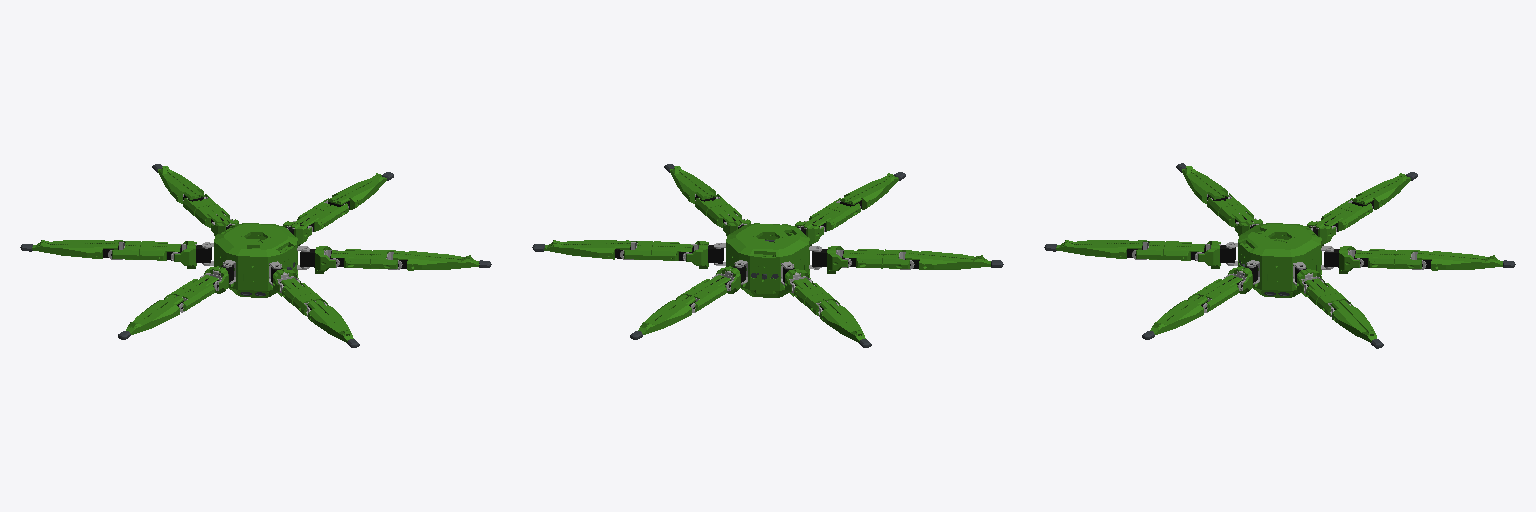
--- Render facts (derived) ---
Views: 3 orthographic renders of the robot side by side, from view 1: azimuth 30°, elevation 25°; view 2: azimuth 150°, elevation 25°; view 3: azimuth 270°, elevation 25°.
Robot: [local-path]\OneDrive\Documents\hexapod\hexapod_py\platform\simu — 19 links, 18 joints (18 revolute); root link base_link; default pose: all joints at 0.
Links seen in each view (by area): view 1: base_link, foot_assembly_2, foot_assembly_5, foot_assembly_4, ties_assembly_5, ties_assembly_2, foot_assembly_3, foot_assembly, foot_assembly_6, ties_assembly, ties_assembly_4, ties_assembly_3 (+3 smaller); view 2: base_link, foot_assembly_4, foot_assembly, foot_assembly_6, ties_assembly, ties_assembly_4, foot_assembly_5, foot_assembly_3, foot_assembly_2, ties_assembly_3, ties_assembly_6, ties_assembly_5 (+3 smaller); view 3: base_link, foot_assembly_6, foot_assembly_3, foot_assembly_2, ties_assembly_3, ties_assembly_6, foot_assembly, foot_assembly_5, foot_assembly_4, ties_assembly_2, ties_assembly_5, ties_assembly (+3 smaller).
Boxes of the visible links, left/top/right/bottom form: base_link: left=204, top=223, right=307, bottom=297; foot_assembly_2: left=393, top=251, right=491, bottom=270; foot_assembly_5: left=20, top=240, right=118, bottom=258; foot_assembly_4: left=118, top=295, right=183, bottom=339; ties_assembly_5: left=111, top=240, right=181, bottom=260; ties_assembly_2: left=330, top=249, right=398, bottom=269; foot_assembly_3: left=307, top=300, right=359, bottom=347; foot_assembly: left=327, top=172, right=393, bottom=209; foot_assembly_6: left=152, top=164, right=205, bottom=203; ties_assembly: left=294, top=198, right=348, bottom=231; ties_assembly_4: left=164, top=275, right=218, bottom=312; ties_assembly_3: left=280, top=278, right=328, bottom=316; base_link: left=716, top=223, right=819, bottom=297; foot_assembly_4: left=905, top=250, right=1003, bottom=269; foot_assembly: left=532, top=240, right=630, bottom=259; foot_assembly_6: left=630, top=295, right=695, bottom=339; ties_assembly: left=623, top=240, right=693, bottom=260; ties_assembly_4: left=842, top=249, right=911, bottom=269; foot_assembly_5: left=819, top=300, right=871, bottom=347; foot_assembly_3: left=839, top=172, right=905, bottom=209; foot_assembly_2: left=664, top=164, right=717, bottom=203; ties_assembly_3: left=806, top=198, right=860, bottom=231; ties_assembly_6: left=675, top=275, right=730, bottom=312; ties_assembly_5: left=792, top=278, right=840, bottom=316; base_link: left=1228, top=223, right=1331, bottom=297; foot_assembly_6: left=1417, top=251, right=1515, bottom=270; foot_assembly_3: left=1044, top=240, right=1142, bottom=258; foot_assembly_2: left=1142, top=295, right=1207, bottom=339; ties_assembly_3: left=1135, top=240, right=1205, bottom=260; ties_assembly_6: left=1354, top=249, right=1422, bottom=269; foot_assembly: left=1331, top=300, right=1383, bottom=348; foot_assembly_5: left=1351, top=172, right=1417, bottom=209; foot_assembly_4: left=1176, top=163, right=1229, bottom=203; ties_assembly_2: left=1187, top=275, right=1242, bottom=312; ties_assembly_5: left=1318, top=198, right=1372, bottom=231; ties_assembly: left=1304, top=278, right=1352, bottom=316.
Bounding box of the posed robot: 1.31 × 1.44 × 0.17 m (x, y, z).
Meshes: 16 distinct files referenced, 134 mesh visuals loaded (16 binary STL).

robot.urdf — [local-path]\OneDrive\Documents\hexapod\hexapod_py\platform\simu:
<?xml version="1.0" ?>
<!-- Generated using onshape-to-robot -->
<!-- Onshape https://cad.onshape.com/documents/026f9a33ba6a25a983a9d639/w/b83e0182bd0a887a03df3198/e/e49783848224d44e064e4a49 -->
<robot name="[local-path]\OneDrive\Documents\hexapod\hexapod_py\platform\simulation">
  <!-- Link base_link -->
  <link name="base_link">
    <inertial>
      <origin xyz="0.00470178 -0.0163199 -0.0259802" rpy="0 0 0"/>
      <mass value="2.35252"/>
      <inertia ixx="0.0190385" ixy="0.000445297" ixz="-2.34169e-05" iyy="0.0182501" iyz="-2.1661e-05" izz="0.0246171"/>
    </inertial>
    <!-- Part mobile_bracket -->
    <visual>
      <origin xyz="0.111152 0.033155 -0.0136886" rpy="1.13446 1.5708 0"/>
      <geometry>
        <mesh filename="package://meshes\mobile_bracket.stl"/>
      </geometry>
      <material name="mobile_bracket_material">
        <color rgba="0.647059 0.647059 0.647059 1"/>
      </material>
    </visual>
    <collision>
      <origin xyz="0.111152 0.033155 -0.0136886" rpy="1.13446 1.5708 0"/>
      <geometry>
        <mesh filename="package://meshes\mobile_bracket.stl"/>
      </geometry>
    </collision>
    <!-- Part top_cover -->
    <visual>
      <origin xyz="0.0050986 -0.0162986 0.0213114" rpy="-2.42931e-14 2.46385e-14 2.00713"/>
      <geometry>
        <mesh filename="package://meshes\top_cover.stl"/>
      </geometry>
      <material name="top_cover_material">
        <color rgba="0.282353 0.54902 0.160784 1"/>
      </material>
    </visual>
    <collision>
      <origin xyz="0.0050986 -0.0162986 0.0213114" rpy="-2.42931e-14 2.46385e-14 2.00713"/>
      <geometry>
        <mesh filename="package://meshes\top_cover.stl"/>
      </geometry>
    </collision>
    <!-- Part mobile_bracket_2 -->
    <visual>
      <origin xyz="0.100953 -0.0834168 -0.0136886" rpy="2.18166 1.5708 0"/>
      <geometry>
        <mesh filename="package://meshes\mobile_bracket.stl"/>
      </geometry>
      <material name="mobile_bracket_2_material">
        <color rgba="0.647059 0.647059 0.647059 1"/>
      </material>
    </visual>
    <collision>
      <origin xyz="0.100953 -0.0834168 -0.0136886" rpy="2.18166 1.5708 0"/>
      <geometry>
        <mesh filename="package://meshes\mobile_bracket.stl"/>
      </geometry>
    </collision>
    <!-- Part camera -->
    <visual>
      <origin xyz="-0.0382198 0.076598 -0.0256886" rpy="3.14159 -6.80112e-15 0.436332"/>
      <geometry>
        <mesh filename="package://meshes\camera.stl"/>
      </geometry>
      <material name="camera_material">
        <color rgba="0.262745 0.282353 0.301961 1"/>
      </material>
    </visual>
    <collision>
      <origin xyz="-0.0382198 0.076598 -0.0256886" rpy="3.14159 -6.80112e-15 0.436332"/>
      <geometry>
        <mesh filename="package://meshes\camera.stl"/>
      </geometry>
    </collision>
    <!-- Part camera_2 -->
    <visual>
      <origin xyz="0.048417 -0.109195 -0.0256886" rpy="-3.14159 6.80112e-15 -2.70526"/>
      <geometry>
        <mesh filename="package://meshes\camera.stl"/>
      </geometry>
      <material name="camera_2_material">
        <color rgba="0.262745 0.282353 0.301961 1"/>
      </material>
    </visual>
    <collision>
      <origin xyz="0.048417 -0.109195 -0.0256886" rpy="-3.14159 6.80112e-15 -2.70526"/>
      <geometry>
        <mesh filename="package://meshes\camera.stl"/>
      </geometry>
    </collision>
    <!-- Part bottom_cover -->
    <visual>
      <origin xyz="0.0050986 -0.0162986 -0.0486886" rpy="-3.14159 -2.1605e-14 -1.13446"/>
      <geometry>
        <mesh filename="package://meshes\bottom_cover.stl"/>
      </geometry>
      <material name="bottom_cover_material">
        <color rgba="0.282353 0.54902 0.160784 1"/>
      </material>
    </visual>
    <collision>
      <origin xyz="0.0050986 -0.0162986 -0.0486886" rpy="-3.14159 -2.1605e-14 -1.13446"/>
      <geometry>
        <mesh filename="package://meshes\bottom_cover.stl"/>
      </geometry>
    </collision>
    <!-- Part left_speaker -->
    <visual>
      <origin xyz="-0.0234341 -0.0570474 0.00105654" rpy="1.5708 0.523599 -0.610865"/>
      <geometry>
        <mesh filename="package://meshes\left_speaker.stl"/>
      </geometry>
      <material name="left_speaker_material">
        <color rgba="0.262745 0.282353 0.301961 1"/>
      </material>
    </visual>
    <collision>
      <origin xyz="-0.0234341 -0.0570474 0.00105654" rpy="1.5708 0.523599 -0.610865"/>
      <geometry>
        <mesh filename="package://meshes\left_speaker.stl"/>
      </geometry>
    </collision>
    <!-- Part body_power -->
    <visual>
      <origin xyz="0.0050986 -0.0162986 -0.0136886" rpy="2.46385e-14 2.42931e-14 -2.70526"/>
      <geometry>
        <mesh filename="package://meshes\body_power.stl"/>
      </geometry>
      <material name="body_power_material">
        <color rgba="0.282353 0.54902 0.160784 1"/>
      </material>
    </visual>
    <collision>
      <origin xyz="0.0050986 -0.0162986 -0.0136886" rpy="2.46385e-14 2.42931e-14 -2.70526"/>
      <geometry>
        <mesh filename="package://meshes\body_power.stl"/>
      </geometry>
    </collision>
    <!-- Part mobile_bracket_3 -->
    <visual>
      <origin xyz="-0.00510011 -0.13287 -0.0136886" rpy="3.05433 -1.5708 0"/>
      <geometry>
        <mesh filename="package://meshes\mobile_bracket.stl"/>
      </geometry>
      <material name="mobile_bracket_3_material">
        <color rgba="0.647059 0.647059 0.647059 1"/>
      </material>
    </visual>
    <collision>
      <origin xyz="-0.00510011 -0.13287 -0.0136886" rpy="3.05433 -1.5708 0"/>
      <geometry>
        <mesh filename="package://meshes\mobile_bracket.stl"/>
      </geometry>
    </collision>
    <!-- Part mobile_bracket_4 -->
    <visual>
      <origin xyz="0.0152973 0.100273 -0.0136886" rpy="0.0872665 1.5708 0"/>
      <geometry>
        <mesh filename="package://meshes\mobile_bracket.stl"/>
      </geometry>
      <material name="mobile_bracket_4_material">
        <color rgba="0.647059 0.647059 0.647059 1"/>
      </material>
    </visual>
    <collision>
      <origin xyz="0.0152973 0.100273 -0.0136886" rpy="0.0872665 1.5708 0"/>
      <geometry>
        <mesh filename="package://meshes\mobile_bracket.stl"/>
      </geometry>
    </collision>
    <!-- Part mobile_bracket_5 -->
    <visual>
      <origin xyz="-0.100955 -0.0657521 -0.0136886" rpy="2.00713 -1.5708 0"/>
      <geometry>
        <mesh filename="package://meshes\mobile_bracket.stl"/>
      </geometry>
      <material name="mobile_bracket_5_material">
        <color rgba="0.647059 0.647059 0.647059 1"/>
      </material>
    </visual>
    <collision>
      <origin xyz="-0.100955 -0.0657521 -0.0136886" rpy="2.00713 -1.5708 0"/>
      <geometry>
        <mesh filename="package://meshes\mobile_bracket.stl"/>
      </geometry>
    </collision>
    <!-- Part mobile_bracket_6 -->
    <visual>
      <origin xyz="-0.0907562 0.0508196 -0.0136886" rpy="0.959931 -1.5708 0"/>
      <geometry>
        <mesh filename="package://meshes\mobile_bracket.stl"/>
      </geometry>
      <material name="mobile_bracket_6_material">
        <color rgba="0.647059 0.647059 0.647059 1"/>
      </material>
    </visual>
    <collision>
      <origin xyz="-0.0907562 0.0508196 -0.0136886" rpy="0.959931 -1.5708 0"/>
      <geometry>
        <mesh filename="package://meshes\mobile_bracket.stl"/>
      </geometry>
    </collision>
    <!-- Part body_brain -->
    <visual>
      <origin xyz="0.0050986 -0.0162986 -0.0136886" rpy="2.1605e-14 6.80112e-15 -2.70526"/>
      <geometry>
        <mesh filename="package://meshes\body_brain.stl"/>
      </geometry>
      <material name="body_brain_material">
        <color rgba="0.282353 0.54902 0.160784 1"/>
      </material>
    </visual>
    <collision>
      <origin xyz="0.0050986 -0.0162986 -0.0136886" rpy="2.1605e-14 6.80112e-15 -2.70526"/>
      <geometry>
        <mesh filename="package://meshes\body_brain.stl"/>
      </geometry>
    </collision>
    <!-- Part left_speaker_2 -->
    <visual>
      <origin xyz="0.0546545 -0.0206342 0.00105654" rpy="1.5708 0.523599 1.48353"/>
      <geometry>
        <mesh filename="package://meshes\left_speaker.stl"/>
      </geometry>
      <material name="left_speaker_2_material">
        <color rgba="0.262745 0.282353 0.301961 1"/>
      </material>
    </visual>
    <collision>
      <origin xyz="0.0546545 -0.0206342 0.00105654" rpy="1.5708 0.523599 1.48353"/>
      <geometry>
        <mesh filename="package://meshes\left_speaker.stl"/>
      </geometry>
    </collision>
  </link>
  <!-- Link hip_assembly -->
  <link name="hip_assembly">
    <inertial>
      <origin xyz="0.0271153 0.000490209 -0.0317796" rpy="0 0 0"/>
      <mass value="0.38056"/>
      <inertia ixx="0.000187069" ixy="-3.08523e-06" ixz="7.85466e-06" iyy="0.000328441" iyz="1.17914e-06" izz="0.000302664"/>
    </inertial>
    <!-- Part hip -->
    <visual>
      <origin xyz="0.0575 -4.64906e-16 -0.0045" rpy="1.16453e-15 -4.14381e-15 -3.14159"/>
      <geometry>
        <mesh filename="package://meshes\hip.stl"/>
      </geometry>
      <material name="hip_material">
        <color rgba="0.282353 0.54902 0.160784 1"/>
      </material>
    </visual>
    <collision>
      <origin xyz="0.0575 -4.64906e-16 -0.0045" rpy="1.16453e-15 -4.14381e-15 -3.14159"/>
      <geometry>
        <mesh filename="package://meshes\hip.stl"/>
      </geometry>
    </collision>
    <!-- Part mobile_bracket_7 -->
    <visual>
      <origin xyz="0.0575 3.81639e-17 -0.0305" rpy="-3.75284e-15 -9.18037e-16 -1.5708"/>
      <geometry>
        <mesh filename="package://meshes\mobile_bracket.stl"/>
      </geometry>
      <material name="mobile_bracket_7_material">
        <color rgba="0.647059 0.647059 0.647059 1"/>
      </material>
    </visual>
    <collision>
      <origin xyz="0.0575 3.81639e-17 -0.0305" rpy="-3.75284e-15 -9.18037e-16 -1.5708"/>
      <geometry>
        <mesh filename="package://meshes\mobile_bracket.stl"/>
      </geometry>
    </collision>
    <!-- Part servo_wheel -->
    <visual>
      <origin xyz="1.38778e-16 -3.46945e-17 -0.0025" rpy="-3.14159 -4.26305e-15 -3.14159"/>
      <geometry>
        <mesh filename="package://meshes\servo_wheel.stl"/>
      </geometry>
      <material name="servo_wheel_material">
        <color rgba="0.647059 0.647059 0.647059 1"/>
      </material>
    </visual>
    <collision>
      <origin xyz="1.38778e-16 -3.46945e-17 -0.0025" rpy="-3.14159 -4.26305e-15 -3.14159"/>
      <geometry>
        <mesh filename="package://meshes\servo_wheel.stl"/>
      </geometry>
    </collision>
    <!-- Part servo -->
    <visual>
      <origin xyz="0.0175 0.00140442 -0.0305" rpy="-3.14159 -4.05481e-15 -3.14159"/>
      <geometry>
        <mesh filename="package://meshes\servo.stl"/>
      </geometry>
      <material name="servo_material">
        <color rgba="0.109804 0.109804 0.105882 1"/>
      </material>
    </visual>
    <collision>
      <origin xyz="0.0175 0.00140442 -0.0305" rpy="-3.14159 -4.05481e-15 -3.14159"/>
      <geometry>
        <mesh filename="package://meshes\servo.stl"/>
      </geometry>
    </collision>
    <!-- Part fixed_bracket -->
    <visual>
      <origin xyz="0.0575 1.45717e-16 -0.0305" rpy="-1.5708 1.5708 0"/>
      <geometry>
        <mesh filename="package://meshes\fixed_bracket.stl"/>
      </geometry>
      <material name="fixed_bracket_material">
        <color rgba="0.647059 0.647059 0.647059 1"/>
      </material>
    </visual>
    <collision>
      <origin xyz="0.0575 1.45717e-16 -0.0305" rpy="-1.5708 1.5708 0"/>
      <geometry>
        <mesh filename="package://meshes\fixed_bracket.stl"/>
      </geometry>
    </collision>
    <!-- Part servo_wheel_2 -->
    <visual>
      <origin xyz="-1.38778e-16 -1.38778e-17 -0.0585" rpy="-3.14159 -1.97331e-15 3.14159"/>
      <geometry>
        <mesh filename="package://meshes\servo_wheel.stl"/>
      </geometry>
      <material name="servo_wheel_2_material">
        <color rgba="0.647059 0.647059 0.647059 1"/>
      </material>
    </visual>
    <collision>
      <origin xyz="-1.38778e-16 -1.38778e-17 -0.0585" rpy="-3.14159 -1.97331e-15 3.14159"/>
      <geometry>
        <mesh filename="package://meshes\servo_wheel.stl"/>
      </geometry>
    </collision>
  </link>
  <!-- Link ties_assembly -->
  <link name="ties_assembly">
    <inertial>
      <origin xyz="0.0639313 0.001561 -0.0314406" rpy="0 0 0"/>
      <mass value="0.581468"/>
      <inertia ixx="0.000317042" ixy="-2.4027e-05" ixz="2.78889e-05" iyy="0.00207548" iyz="-4.55023e-07" izz="0.00186094"/>
    </inertial>
    <!-- Part mobile_bracket_8 -->
    <visual>
      <origin xyz="0.1568 0.000117091 -0.0322436" rpy="1.5708 1.5708 0"/>
      <geometry>
        <mesh filename="package://meshes\mobile_bracket.stl"/>
      </geometry>
      <material name="mobile_bracket_8_material">
        <color rgba="0.647059 0.647059 0.647059 1"/>
      </material>
    </visual>
    <collision>
      <origin xyz="0.1568 0.000117091 -0.0322436" rpy="1.5708 1.5708 0"/>
      <geometry>
        <mesh filename="package://meshes\mobile_bracket.stl"/>
      </geometry>
    </collision>
    <!-- Part low_tie -->
    <visual>
      <origin xyz="0.0268 0.000117091 -0.0322436" rpy="1.50389e-15 1.5708 0"/>
      <geometry>
        <mesh filename="package://meshes\low_tie.stl"/>
      </geometry>
      <material name="low_tie_material">
        <color rgba="0.282353 0.54902 0.160784 1"/>
      </material>
    </visual>
    <collision>
      <origin xyz="0.0268 0.000117091 -0.0322436" rpy="1.50389e-15 1.5708 0"/>
      <geometry>
        <mesh filename="package://meshes\low_tie.stl"/>
      </geometry>
    </collision>
    <!-- Part top_tie -->
    <visual>
      <origin xyz="0.0275 -1.38778e-17 -0.0305" rpy="1.50389e-15 1.5708 0"/>
      <geometry>
        <mesh filename="package://meshes\top_tie.stl"/>
      </geometry>
      <material name="top_tie_material">
        <color rgba="0.282353 0.54902 0.160784 1"/>
      </material>
    </visual>
    <collision>
      <origin xyz="0.0275 -1.38778e-17 -0.0305" rpy="1.50389e-15 1.5708 0"/>
      <geometry>
        <mesh filename="package://meshes\top_tie.stl"/>
      </geometry>
    </collision>
    <!-- Part servo_wheel_3 -->
    <visual>
      <origin xyz="1.11022e-16 3.46945e-17 -0.0025" rpy="-3.14159 -1.50856e-16 3.14159"/>
      <geometry>
        <mesh filename="package://meshes\servo_wheel.stl"/>
      </geometry>
      <material name="servo_wheel_3_material">
        <color rgba="0.647059 0.647059 0.647059 1"/>
      </material>
    </visual>
    <collision>
      <origin xyz="1.11022e-16 3.46945e-17 -0.0025" rpy="-3.14159 -1.50856e-16 3.14159"/>
      <geometry>
        <mesh filename="package://meshes\servo_wheel.stl"/>
      </geometry>
    </collision>
    <!-- Part servo_2 -->
    <visual>
      <origin xyz="0.0175 0.00140442 -0.0305" rpy="3.14159 1.73711e-14 3.14159"/>
      <geometry>
        <mesh filename="package://meshes\servo.stl"/>
      </geometry>
      <material name="servo_2_material">
        <color rgba="0.109804 0.109804 0.105882 1"/>
      </material>
    </visual>
    <collision>
      <origin xyz="0.0175 0.00140442 -0.0305" rpy="3.14159 1.73711e-14 3.14159"/>
      <geometry>
        <mesh filename="package://meshes\servo.stl"/>
      </geometry>
    </collision>
    <!-- Part fixed_bracket_2 -->
    <visual>
      <origin xyz="0.0575 -5.72459e-17 -0.0305" rpy="-1.5708 1.5708 0"/>
      <geometry>
        <mesh filename="package://meshes\fixed_bracket.stl"/>
      </geometry>
      <material name="fixed_bracket_2_material">
        <color rgba="0.647059 0.647059 0.647059 1"/>
      </material>
    </visual>
    <collision>
      <origin xyz="0.0575 -5.72459e-17 -0.0305" rpy="-1.5708 1.5708 0"/>
      <geometry>
        <mesh filename="package://meshes\fixed_bracket.stl"/>
      </geometry>
    </collision>
    <!-- Part servo_wheel_4 -->
    <visual>
      <origin xyz="1.11022e-16 3.46945e-17 -0.0585" rpy="3.14159 -3.68117e-15 3.14159"/>
      <geometry>
        <mesh filename="package://meshes\servo_wheel.stl"/>
      </geometry>
      <material name="servo_wheel_4_material">
        <color rgba="0.647059 0.647059 0.647059 1"/>
      </material>
    </visual>
    <collision>
      <origin xyz="1.11022e-16 3.46945e-17 -0.0585" rpy="3.14159 -3.68117e-15 3.14159"/>
      <geometry>
        <mesh filename="package://meshes\servo_wheel.stl"/>
      </geometry>
    </collision>
  </link>
  <!-- Link foot_assembly -->
  <link name="foot_assembly">
    <inertial>
      <origin xyz="-0.0719605 -0.00210262 -0.0306706" rpy="0 0 0"/>
      <mass value="0.628062"/>
      <inertia ixx="0.000268406" ixy="-1.55227e-05" ixz="4.14924e-06" iyy="0.0031862" iyz="-2.26544e-07" izz="0.00302315"/>
    </inertial>
    <!-- Part foot -->
    <visual>
      <origin xyz="-0.04425 2.08167e-17 -0.0305" rpy="-2.22045e-16 1.5708 0"/>
      <geometry>
        <mesh filename="package://meshes\foot.stl"/>
      </geometry>
      <material name="foot_material">
        <color rgba="0.282353 0.54902 0.160784 1"/>
      </material>
    </visual>
    <collision>
      <origin xyz="-0.04425 2.08167e-17 -0.0305" rpy="-2.22045e-16 1.5708 0"/>
      <geometry>
        <mesh filename="package://meshes\foot.stl"/>
      </geometry>
    </collision>
    <!-- Part ir_sensor_cap -->
    <visual>
      <origin xyz="-0.0442455 6.98571e-05 -0.0305" rpy="3.33067e-16 1.5708 0"/>
      <geometry>
        <mesh filename="package://meshes\ir_sensor_cap.stl"/>
      </geometry>
      <material name="ir_sensor_cap_material">
        <color rgba="0.282353 0.54902 0.160784 1"/>
      </material>
    </visual>
    <collision>
      <origin xyz="-0.0442455 6.98571e-05 -0.0305" rpy="3.33067e-16 1.5708 0"/>
      <geometry>
        <mesh filename="package://meshes\ir_sensor_cap.stl"/>
      </geometry>
    </collision>
    <!-- Part rubber_foot -->
    <visual>
      <origin xyz="-0.04375 3.88231e-15 -0.03" rpy="-1.83225e-14 1.5708 0"/>
      <geometry>
        <mesh filename="package://meshes\rubber_foot.stl"/>
      </geometry>
      <material name="rubber_foot_material">
        <color rgba="0.262745 0.282353 0.301961 1"/>
      </material>
    </visual>
    <collision>
      <origin xyz="-0.04375 3.88231e-15 -0.03" rpy="-1.83225e-14 1.5708 0"/>
      <geometry>
        <mesh filename="package://meshes\rubber_foot.stl"/>
      </geometry>
    </collision>
    <!-- Part servo_wheel_5 -->
    <visual>
      <origin xyz="5.55112e-17 1.73472e-18 -0.0025" rpy="-3.14159 -6.35086e-17 5.73157e-30"/>
      <geometry>
        <mesh filename="package://meshes\servo_wheel.stl"/>
      </geometry>
      <material name="servo_wheel_5_material">
        <color rgba="0.647059 0.647059 0.647059 1"/>
      </material>
    </visual>
    <collision>
      <origin xyz="5.55112e-17 1.73472e-18 -0.0025" rpy="-3.14159 -6.35086e-17 5.73157e-30"/>
      <geometry>
        <mesh filename="package://meshes\servo_wheel.stl"/>
      </geometry>
    </collision>
    <!-- Part servo_3 -->
    <visual>
      <origin xyz="-0.0175 -0.00140442 -0.0305" rpy="3.14159 3.94279e-16 -2.22045e-16"/>
      <geometry>
        <mesh filename="package://meshes\servo.stl"/>
      </geometry>
      <material name="servo_3_material">
        <color rgba="0.109804 0.109804 0.105882 1"/>
      </material>
    </visual>
    <collision>
      <origin xyz="-0.0175 -0.00140442 -0.0305" rpy="3.14159 3.94279e-16 -2.22045e-16"/>
      <geometry>
        <mesh filename="package://meshes\servo.stl"/>
      </geometry>
    </collision>
    <!-- Part fixed_bracket_3 -->
    <visual>
      <origin xyz="-0.0575 1.9082e-17 -0.0305" rpy="1.5708 1.5708 0"/>
      <geometry>
        <mesh filename="package://meshes\fixed_bracket.stl"/>
      </geometry>
      <material name="fixed_bracket_3_material">
        <color rgba="0.647059 0.647059 0.647059 1"/>
      </material>
    </visual>
    <collision>
      <origin xyz="-0.0575 1.9082e-17 -0.0305" rpy="1.5708 1.5708 0"/>
      <geometry>
        <mesh filename="package://meshes\fixed_bracket.stl"/>
      </geometry>
    </collision>
    <!-- Part servo_wheel_6 -->
    <visual>
      <origin xyz="5.55112e-17 8.1532e-17 -0.0585" rpy="3.14159 -9.79955e-18 1.11022e-16"/>
      <geometry>
        <mesh filename="package://meshes\servo_wheel.stl"/>
      </geometry>
      <material name="servo_wheel_6_material">
        <color rgba="0.647059 0.647059 0.647059 1"/>
      </material>
    </visual>
    <collision>
      <origin xyz="5.55112e-17 8.1532e-17 -0.0585" rpy="3.14159 -9.79955e-18 1.11022e-16"/>
      <geometry>
        <mesh filename="package://meshes\servo_wheel.stl"/>
      </geometry>
    </collision>
  </link>
  <!-- Joint from ties_assembly to foot_assembly -->
  <joint name="foot_1" type="revolute">
    <origin xyz="0.1918 0.000117091 -0.00186036" rpy="-1.83367e-15 -1.8597e-15 3.14159"/>
    <parent link="ties_assembly"/>
    <child link="foot_assembly"/>
    <axis xyz="0 0 1"/>
    <limit effort="10" velocity="10" lower="-2.0944" upper="2.0944"/>
  </joint>
  <!-- Joint from hip_assembly to ties_assembly -->
  <joint name="ties_1" type="revolute">
    <origin xyz="0.0925 -0.0311167 -0.0305" rpy="1.5708 3.75284e-15 1.25724e-15"/>
    <parent link="hip_assembly"/>
    <child link="ties_assembly"/>
    <axis xyz="0 0 1"/>
    <limit effort="10" velocity="10" lower="-1.74533" upper="1.74533"/>
  </joint>
  <!-- Joint from base_link to hip_assembly -->
  <joint name="hip_1" type="revolute">
    <origin xyz="0.142873 0.0479466 0.0166947" rpy="-2.41992e-14 -2.85159e-14 0.436332"/>
    <parent link="base_link"/>
    <child link="hip_assembly"/>
    <axis xyz="0 0 1"/>
    <limit effort="10" velocity="10" lower="-1.5708" upper="1.5708"/>
  </joint>
  <!-- Link hip_assembly_2 -->
  <link name="hip_assembly_2">
    <inertial>
      <origin xyz="-0.0271153 -0.000490209 -0.0317796" rpy="0 0 0"/>
      <mass value="0.38056"/>
      <inertia ixx="0.000187069" ixy="-3.08523e-06" ixz="-7.85466e-06" iyy="0.000328441" iyz="-1.17914e-06" izz="0.000302664"/>
    </inertial>
    <!-- Part hip_2 -->
    <visual>
      <origin xyz="-0.0575 3.64292e-17 -0.0045" rpy="6.66109e-15 2.55513e-15 -1.09316e-16"/>
      <geometry>
        <mesh filename="package://meshes\hip.stl"/>
      </geometry>
      <material name="hip_2_material">
        <color rgba="0.282353 0.54902 0.160784 1"/>
      </material>
    </visual>
    <collision>
      <origin xyz="-0.0575 3.64292e-17 -0.0045" rpy="6.66109e-15 2.55513e-15 -1.09316e-16"/>
      <geometry>
        <mesh filename="package://meshes\hip.stl"/>
      </geometry>
    </collision>
    <!-- Part mobile_bracket_9 -->
    <visual>
      <origin xyz="-0.0575 2.25514e-17 -0.0305" rpy="2.48572e-15 -7.17397e-15 1.5708"/>
      <geometry>
        <mesh filename="package://meshes\mobile_bracket.stl"/>
      </geometry>
      <material name="mobile_bracket_9_material">
        <color rgba="0.647059 0.647059 0.647059 1"/>
      </material>
    </visual>
    <collision>
      <origin xyz="-0.0575 2.25514e-17 -0.0305" rpy="2.48572e-15 -7.17397e-15 1.5708"/>
      <geometry>
        <mesh filename="package://meshes\mobile_bracket.stl"/>
      </geometry>
    </collision>
    <!-- Part servo_wheel_7 -->
    <visual>
      <origin xyz="0 -3.46945e-18 -0.0025" rpy="3.14159 -4.9326e-31 3.23512e-17"/>
      <geometry>
        <mesh filename="package://meshes\servo_wheel.stl"/>
      </geometry>
      <material name="servo_wheel_7_material">
        <color rgba="0.647059 0.647059 0.647059 1"/>
      </material>
    </visual>
    <collision>
      <origin xyz="0 -3.46945e-18 -0.0025" rpy="3.14159 -4.9326e-31 3.23512e-17"/>
      <geometry>
        <mesh filename="package://meshes\servo_wheel.stl"/>
      </geometry>
    </collision>
    <!-- Part servo_4 -->
    <visual>
      <origin xyz="-0.0175 -0.00140442 -0.0305" rpy="-3.14159 2.31536e-15 -2.90032e-17"/>
      <geometry>
        <mesh filename="package://meshes\servo.stl"/>
      </geometry>
      <material name="servo_4_material">
        <color rgba="0.109804 0.109804 0.105882 1"/>
      </material>
    </visual>
    <collision>
      <origin xyz="-0.0175 -0.00140442 -0.0305" rpy="-3.14159 2.31536e-15 -2.90032e-17"/>
      <geometry>
        <mesh filename="package://meshes\servo.stl"/>
      </geometry>
    </collision>
    <!-- Part fixed_bracket_4 -->
    <visual>
      <origin xyz="-0.0575 3.1225e-17 -0.0305" rpy="1.5708 1.5708 0"/>
      <geometry>
        <mesh filename="package://meshes\fixed_bracket.stl"/>
      </geometry>
      <material name="fixed_bracket_4_material">
        <color rgba="0.647059 0.647059 0.647059 1"/>
      </material>
    </visual>
    <collision>
      <origin xyz="-0.0575 3.1225e-17 -0.0305" rpy="1.5708 1.5708 0"/>
      <geometry>
        <mesh filename="package://meshes\fixed_bracket.stl"/>
      </geometry>
    </collision>
    <!-- Part servo_wheel_8 -->
    <visual>
      <origin xyz="0 1.56125e-17 -0.0585" rpy="-3.14159 2.31536e-15 -8.92377e-17"/>
      <geometry>
        <mesh filename="package://meshes\servo_wheel.stl"/>
      </geometry>
      <material name="servo_wheel_8_material">
        <color rgba="0.647059 0.647059 0.647059 1"/>
      </material>
    </visual>
    <collision>
      <origin xyz="0 1.56125e-17 -0.0585" rpy="-3.14159 2.31536e-15 -8.92377e-17"/>
      <geometry>
        <mesh filename="package://meshes\servo_wheel.stl"/>
      </geometry>
    </collision>
  </link>
  <!-- Link ties_assembly_2 -->
  <link name="ties_assembly_2">
    <inertial>
      <origin xyz="0.0639313 0.001561 -0.0314406" rpy="0 0 0"/>
      <mass value="0.581468"/>
      <inertia ixx="0.000317042" ixy="-2.4027e-05" ixz="2.78889e-05" iyy="0.00207548" iyz="-4.55023e-07" izz="0.00186094"/>
    </inertial>
    <!-- Part mobile_bracket_10 -->
    <visual>
      <origin xyz="0.1568 0.000117091 -0.0322436" rpy="1.5708 1.5708 0"/>
      <geometry>
        <mesh filename="package://meshes\mobile_bracket.stl"/>
      </geometry>
      <material name="mobile_bracket_10_material">
        <color rgba="0.647059 0.647059 0.647059 1"/>
      </material>
    </visual>
    <collision>
      <origin xyz="0.1568 0.000117091 -0.0322436" rpy="1.5708 1.5708 0"/>
      <geometry>
        <mesh filename="package://meshes\mobile_bracket.stl"/>
      </geometry>
    </collision>
    <!-- Part low_tie_2 -->
    <visual>
      <origin xyz="0.0268 0.000117091 -0.0322436" rpy="5.55857e-15 1.5708 0"/>
      <geometry>
        <mesh filename="package://meshes\low_tie.stl"/>
      </geometry>
      <material name="low_tie_2_material">
        <color rgba="0.282353 0.54902 0.160784 1"/>
      </material>
    </visual>
    <collision>
      <origin xyz="0.0268 0.000117091 -0.0322436" rpy="5.55857e-15 1.5708 0"/>
      <geometry>
        <mesh filename="package://meshes\low_tie.stl"/>
      </geometry>
    </collision>
    <!-- Part top_tie_2 -->
    <visual>
      <origin xyz="0.0275 -1.68268e-16 -0.0305" rpy="5.55857e-15 1.5708 0"/>
      <geometry>
        <mesh filename="package://meshes\top_tie.stl"/>
      </geometry>
      <material name="top_tie_2_material">
        <color rgba="0.282353 0.54902 0.160784 1"/>
      </material>
    </visual>
    <collision>
      <origin xyz="0.0275 -1.68268e-16 -0.0305" rpy="5.55857e-15 1.5708 0"/>
      <geometry>
        <mesh filename="package://meshes\top_tie.stl"/>
      </geometry>
    </collision>
    <!-- Part servo_wheel_9 -->
    <visual>
      <origin xyz="5.55112e-17 0 -0.0025" rpy="-3.14159 7.62056e-15 3.14159"/>
      <geometry>
        <mesh filename="package://meshes\servo_wheel.stl"/>
      </geometry>
      <material name="servo_wheel_9_material">
        <color rgba="0.647059 0.647059 0.647059 1"/>
      </material>
    </visual>
    <collision>
      <origin xyz="5.55112e-17 0 -0.0025" rpy="-3.14159 7.62056e-15 3.14159"/>
      <geometry>
        <mesh filename="package://meshes\servo_wheel.stl"/>
      </geometry>
    </collision>
    <!-- Part servo_5 -->
    <visual>
      <origin xyz="0.0175 0.00140442 -0.0305" rpy="3.14159 -1.19866e-15 3.14159"/>
      <geometry>
        <mesh filename="package://meshes\servo.stl"/>
      </geometry>
      <material name="servo_5_material">
        <color rgba="0.109804 0.109804 0.105882 1"/>
      </material>
    </visual>
    <collision>
      <origin xyz="0.0175 0.00140442 -0.0305" rpy="3.14159 -1.19866e-15 3.14159"/>
      <geometry>
        <mesh filename="package://meshes\servo.stl"/>
      </geometry>
    </collision>
    <!-- Part fixed_bracket_5 -->
    <visual>
      <origin xyz="0.0575 -3.36536e-16 -0.0305" rpy="-1.5708 1.5708 0"/>
      <geometry>
        <mesh filename="package://meshes\fixed_bracket.stl"/>
      </geometry>
      <material name="fixed_bracket_5_material">
        <color rgba="0.647059 0.647059 0.647059 1"/>
      </material>
    </visual>
    <collision>
      <origin xyz="0.0575 -3.36536e-16 -0.0305" rpy="-1.5708 1.5708 0"/>
      <geometry>
        <mesh filename="package://meshes\fixed_bracket.stl"/>
      </geometry>
    </collision>
    <!-- Part servo_wheel_10 -->
    <visual>
      <origin xyz="5.55112e-17 -1.73472e-18 -0.0585" rpy="-3.14159 -1.48331e-15 3.14159"/>
      <geometry>
        <mesh filename="package://meshes\servo_wheel.stl"/>
      </geometry>
      <material name="servo_wheel_10_material">
        <color rgba="0.647059 0.647059 0.647059 1"/>
      </material>
    </visual>
    <collision>
      <origin xyz="5.55112e-17 -1.73472e-18 -0.0585" rpy="-3.14159 -1.48331e-15 3.14159"/>
      <geometry>
        <mesh filename="package://meshes\servo_wheel.stl"/>
      </geometry>
    </collision>
  </link>
  <!-- Link foot_assembly_2 -->
  <link name="foot_assembly_2">
    <inertial>
      <origin xyz="-0.0719605 -0.00210262 -0.0306706" rpy="0 0 0"/>
      <mass value="0.628062"/>
      <inertia ixx="0.000268406" ixy="-1.55227e-05" ixz="4.14924e-06" iyy="0.0031862" iyz="-2.26544e-07" izz="0.00302315"/>
    </inertial>
    <!-- Part foot_2 -->
    <visual>
      <origin xyz="-0.04425 8.67362e-18 -0.0305" rpy="1.52211e-27 1.5708 0"/>
      <geometry>
        <mesh filename="package://meshes\foot.stl"/>
      </geometry>
      <material name="foot_2_material">
        <color rgba="0.282353 0.54902 0.160784 1"/>
      </material>
    </visual>
    <collision>
      <origin xyz="-0.04425 8.67362e-18 -0.0305" rpy="1.52211e-27 1.5708 0"/>
      <geometry>
        <mesh filename="package://meshes\foot.stl"/>
      </geometry>
    </collision>
    <!-- Part ir_sensor_cap_2 -->
    <visual>
      <origin xyz="-0.0442455 6.98571e-05 -0.0305" rpy="2.33863e-15 1.5708 0"/>
      <geometry>
        <mesh filename="package://meshes\ir_sensor_cap.stl"/>
      </geometry>
      <material name="ir_sensor_cap_2_material">
        <color rgba="0.282353 0.54902 0.160784 1"/>
      </material>
    </visual>
    <collision>
      <origin xyz="-0.0442455 6.98571e-05 -0.0305" rpy="2.33863e-15 1.5708 0"/>
      <geometry>
        <mesh filename="package://meshes\ir_sensor_cap.stl"/>
      </geometry>
    </collision>
    <!-- Part rubber_foot_2 -->
    <visual>
      <origin xyz="-0.04375 1.59595e-16 -0.03" rpy="-7.21645e-16 1.5708 0"/>
      <geometry>
        <mesh filename="package://meshes\rubber_foot.stl"/>
      </geometry>
      <material name="rubber_foot_2_material">
        <color rgba="0.262745 0.282353 0.301961 1"/>
      </material>
    </visual>
    <collision>
      <origin xyz="-0.04375 1.59595e-16 -0.03" rpy="-7.21645e-16 1.5708 0"/>
      <geometry>
        <mesh filename="package://meshes\rubber_foot.stl"/>
      </geometry>
    </collision>
    <!-- Part servo_wheel_11 -->
    <visual>
      <origin xyz="0 0 -0.0025" rpy="3.14159 6.46282e-17 5.1276e-30"/>
      <geometry>
        <mesh filename="package://meshes\servo_wheel.stl"/>
      </geometry>
      <material name="servo_wheel_11_material">
        <color rgba="0.647059 0.647059 0.647059 1"/>
      </material>
    </visual>
    <collision>
      <origin xyz="0 0 -0.0025" rpy="3.14159 6.46282e-17 5.1276e-30"/>
      <geometry>
        <mesh filename="package://meshes\servo_wheel.stl"/>
      </geometry>
    </collision>
    <!-- Part servo_6 -->
    <visual>
      <origin xyz="-0.0175 -0.00140442 -0.0305" rpy="-3.14159 1.76144e-14 -1.18329e-30"/>
      <geometry>
        <mesh filename="package://meshes\servo.stl"/>
      </geometry>
      <material name="servo_6_material">
        <color rgba="0.109804 0.109804 0.105882 1"/>
      </material>
    </visual>
    <collision>
      <origin xyz="-0.0175 -0.00140442 -0.0305" rpy="-3.14159 1.76144e-14 -1.18329e-30"/>
      <geometry>
        <mesh filename="package://meshes\servo.stl"/>
      </geometry>
    </collision>
    <!-- Part fixed_bracket_6 -->
    <visual>
      <origin xyz="-0.0575 8.67362e-18 -0.0305" rpy="1.5708 1.5708 0"/>
      <geometry>
        <mesh filename="package://meshes\fixed_bracket.stl"/>
      </geometry>
      <material name="fixed_bracket_6_material">
        <color rgba="0.647059 0.647059 0.647059 1"/>
      </material>
    </visual>
    <collision>
      <origin xyz="-0.0575 8.67362e-18 -0.0305" rpy="1.5708 1.5708 0"/>
      <geometry>
        <mesh filename="package://meshes\fixed_bracket.stl"/>
      </geometry>
    </collision>
    <!-- Part servo_wheel_12 -->
    <visual>
      <origin xyz="5.55112e-17 0 -0.0585" rpy="-3.14159 1.53408e-14 -1.18329e-30"/>
      <geometry>
        <mesh filename="package://meshes\servo_wheel.stl"/>
      </geometry>
      <material name="servo_wheel_12_material">
        <color rgba="0.647059 0.647059 0.647059 1"/>
      </material>
    </visual>
    <collision>
      <origin xyz="5.55112e-17 0 -0.0585" rpy="-3.14159 1.53408e-14 -1.18329e-30"/>
      <geometry>
        <mesh filename="package://meshes\servo_wheel.stl"/>
      </geometry>
    </collision>
  </link>
  <!-- Joint from ties_assembly_2 to foot_assembly_2 -->
  <joint name="foot_2" type="revolute">
    <origin xyz="0.1918 0.000117091 -0.00186036" rpy="-6.33457e-15 -1.83953e-14 3.14159"/>
    <parent link="ties_assembly_2"/>
    <child link="foot_assembly_2"/>
    <axis xyz="0 0 1"/>
    <limit effort="10" velocity="10" lower="-2.0944" upper="2.0944"/>
  </joint>
  <!-- Joint from hip_assembly_2 to ties_assembly_2 -->
  <joint name="ties_2" type="revolute">
    <origin xyz="-0.0925 0.0311167 -0.0305" rpy="1.5708 -2.48572e-15 3.14159"/>
    <parent link="hip_assembly_2"/>
    <child link="ties_assembly_2"/>
    <axis xyz="0 0 1"/>
    <limit effort="10" velocity="10" lower="-1.74533" upper="1.74533"/>
  </joint>
  <!-- Joint from base_link to hip_assembly_2 -->
  <joint name="hip_2" type="revolute">
    <origin xyz="0.129624 -0.103492 0.0166947" rpy="-1.34586e-14 3.21607e-14 2.53073"/>
    <parent link="base_link"/>
    <child link="hip_assembly_2"/>
    <axis xyz="0 0 1"/>
    <limit effort="10" velocity="10" lower="-1.5708" upper="1.5708"/>
  </joint>
  <!-- Link hip_assembly_3 -->
  <link name="hip_assembly_3">
    <inertial>
      <origin xyz="0.0271153 0.000490209 -0.0317796" rpy="0 0 0"/>
      <mass value="0.38056"/>
      <inertia ixx="0.000187069" ixy="-3.08523e-06" ixz="7.85466e-06" iyy="0.000328441" iyz="1.17914e-06" izz="0.000302664"/>
    </inertial>
    <!-- Part hip_3 -->
    <visual>
      <origin xyz="0.0575 3.81639e-16 -0.0045" rpy="-2.65273e-14 2.74219e-14 -3.14159"/>
      <geometry>
        <mesh filename="package://meshes\hip.stl"/>
      </geometry>
      <material name="hip_3_material">
        <color rgba="0.282353 0.54902 0.160784 1"/>
      </material>
    </visual>
    <collision>
      <origin xyz="0.0575 3.81639e-16 -0.0045" rpy="-2.65273e-14 2.74219e-14 -3.14159"/>
      <geometry>
        <mesh filename="package://meshes\hip.stl"/>
      </geometry>
    </collision>
    <!-- Part mobile_bracket_11 -->
    <visual>
      <origin xyz="0.0575 6.75675e-16 -0.0305" rpy="2.74219e-14 5.37076e-14 -1.5708"/>
      <geometry>
        <mesh filename="package://meshes\mobile_bracket.stl"/>
      </geometry>
      <material name="mobile_bracket_11_material">
        <color rgba="0.647059 0.647059 0.647059 1"/>
      </material>
    </visual>
    <collision>
      <origin xyz="0.0575 6.75675e-16 -0.0305" rpy="2.74219e-14 5.37076e-14 -1.5708"/>
      <geometry>
        <mesh filename="package://meshes\mobile_bracket.stl"/>
      </geometry>
    </collision>
    <!-- Part servo_wheel_13 -->
    <visual>
      <origin xyz="2.498e-16 1.5439e-16 -0.0025" rpy="3.14159 2.70114e-14 -3.14159"/>
      <geometry>
        <mesh filename="package://meshes\servo_wheel.stl"/>
      </geometry>
      <material name="servo_wheel_13_material">
        <color rgba="0.647059 0.647059 0.647059 1"/>
      </material>
    </visual>
    <collision>
      <origin xyz="2.498e-16 1.5439e-16 -0.0025" rpy="3.14159 2.70114e-14 -3.14159"/>
      <geometry>
        <mesh filename="package://meshes\servo_wheel.stl"/>
      </geometry>
    </collision>
    <!-- Part servo_7 -->
    <visual>
      <origin xyz="0.0175 0.00140442 -0.0305" rpy="3.14159 2.74219e-14 -3.14159"/>
      <geometry>
        <mesh filename="package://meshes\servo.stl"/>
      </geometry>
      <material name="servo_7_material">
        <color rgba="0.109804 0.109804 0.105882 1"/>
      </material>
    </visual>
    <collision>
      <origin xyz="0.0175 0.00140442 -0.0305" rpy="3.14159 2.74219e-14 -3.14159"/>
      <geometry>
        <mesh filename="package://meshes\servo.stl"/>
      </geometry>
    </collision>
    <!-- Part fixed_bracket_7 -->
    <visual>
      <origin xyz="0.0575 6.75675e-16 -0.0305" rpy="-1.5708 1.5708 0"/>
      <geometry>
        <mesh filename="package://meshes\fixed_bracket.stl"/>
      </geometry>
      <material name="fixed_bracket_7_material">
        <color rgba="0.647059 0.647059 0.647059 1"/>
      </material>
    </visual>
    <collision>
      <origin xyz="0.0575 6.75675e-16 -0.0305" rpy="-1.5708 1.5708 0"/>
      <geometry>
        <mesh filename="package://meshes\fixed_bracket.stl"/>
      </geometry>
    </collision>
    <!-- Part servo_wheel_14 -->
    <visual>
      <origin xyz="2.498e-16 1.7087e-16 -0.0585" rpy="3.14159 2.74219e-14 -3.14159"/>
      <geometry>
        <mesh filename="package://meshes\servo_wheel.stl"/>
      </geometry>
      <material name="servo_wheel_14_material">
        <color rgba="0.647059 0.647059 0.647059 1"/>
      </material>
    </visual>
    <collision>
      <origin xyz="2.498e-16 1.7087e-16 -0.0585" rpy="3.14159 2.74219e-14 -3.14159"/>
      <geometry>
        <mesh filename="package://meshes\servo_wheel.stl"/>
      </geometry>
    </collision>
  </link>
  <!-- Link ties_assembly_3 -->
  <link name="ties_assembly_3">
    <inertial>
      <origin xyz="0.0639313 0.001561 -0.0314406" rpy="0 0 0"/>
      <mass value="0.581468"/>
      <inertia ixx="0.000317042" ixy="-2.4027e-05" ixz="2.78889e-05" iyy="0.00207548" iyz="-4.55023e-07" izz="0.00186094"/>
    </inertial>
    <!-- Part mobile_bracket_12 -->
    <visual>
      <origin xyz="0.1568 0.000117091 -0.0322436" rpy="1.5708 1.5708 0"/>
      <geometry>
        <mesh filename="package://meshes\mobile_bracket.stl"/>
      </geometry>
      <material name="mobile_bracket_12_material">
        <color rgba="0.647059 0.647059 0.647059 1"/>
      </material>
    </visual>
    <collision>
      <origin xyz="0.1568 0.000117091 -0.0322436" rpy="1.5708 1.5708 0"/>
      <geometry>
        <mesh filename="package://meshes\mobile_bracket.stl"/>
      </geometry>
    </collision>
    <!-- Part low_tie_3 -->
    <visual>
      <origin xyz="0.0268 0.000117091 -0.0322436" rpy="-4.35426e-15 1.5708 0"/>
      <geometry>
        <mesh filename="package://meshes\low_tie.stl"/>
      </geometry>
      <material name="low_tie_3_material">
        <color rgba="0.282353 0.54902 0.160784 1"/>
      </material>
    </visual>
    <collision>
      <origin xyz="0.0268 0.000117091 -0.0322436" rpy="-4.35426e-15 1.5708 0"/>
      <geometry>
        <mesh filename="package://meshes\low_tie.stl"/>
      </geometry>
    </collision>
    <!-- Part top_tie_3 -->
    <visual>
      <origin xyz="0.0275 4.28477e-16 -0.0305" rpy="-3.79915e-15 1.5708 0"/>
      <geometry>
        <mesh filename="package://meshes\top_tie.stl"/>
      </geometry>
      <material name="top_tie_3_material">
        <color rgba="0.282353 0.54902 0.160784 1"/>
      </material>
    </visual>
    <collision>
      <origin xyz="0.0275 4.28477e-16 -0.0305" rpy="-3.79915e-15 1.5708 0"/>
      <geometry>
        <mesh filename="package://meshes\top_tie.stl"/>
      </geometry>
    </collision>
    <!-- Part servo_wheel_15 -->
    <visual>
      <origin xyz="1.11022e-16 3.10516e-16 -0.0025" rpy="-3.14159 2.4762e-16 -3.14159"/>
      <geometry>
        <mesh filename="package://meshes\servo_wheel.stl"/>
      </geometry>
      <material name="servo_wheel_15_material">
        <color rgba="0.647059 0.647059 0.647059 1"/>
      </material>
    </visual>
    <collision>
      <origin xyz="1.11022e-16 3.10516e-16 -0.0025" rpy="-3.14159 2.4762e-16 -3.14159"/>
      <geometry>
        <mesh filename="package://meshes\servo_wheel.stl"/>
      </geometry>
    </collision>
    <!-- Part servo_8 -->
    <visual>
      <origin xyz="0.0175 0.00140442 -0.0305" rpy="3.14159 -3.09451e-15 -3.14159"/>
      <geometry>
        <mesh filename="package://meshes\servo.stl"/>
      </geometry>
      <material name="servo_8_material">
        <color rgba="0.109804 0.109804 0.105882 1"/>
      </material>
    </visual>
    <collision>
      <origin xyz="0.0175 0.00140442 -0.0305" rpy="3.14159 -3.09451e-15 -3.14159"/>
      <geometry>
        <mesh filename="package://meshes\servo.stl"/>
      </geometry>
    </collision>
    <!-- Part fixed_bracket_8 -->
    <visual>
      <origin xyz="0.0575 4.80518e-16 -0.0305" rpy="-1.5708 1.5708 0"/>
      <geometry>
        <mesh filename="package://meshes\fixed_bracket.stl"/>
      </geometry>
      <material name="fixed_bracket_8_material">
        <color rgba="0.647059 0.647059 0.647059 1"/>
      </material>
    </visual>
    <collision>
      <origin xyz="0.0575 4.80518e-16 -0.0305" rpy="-1.5708 1.5708 0"/>
      <geometry>
        <mesh filename="package://meshes\fixed_bracket.stl"/>
      </geometry>
    </collision>
    <!-- Part servo_wheel_16 -->
    <visual>
      <origin xyz="-5.55112e-17 1.45717e-16 -0.0585" rpy="3.14159 -3.16517e-15 -3.14159"/>
      <geometry>
        <mesh filename="package://meshes\servo_wheel.stl"/>
      </geometry>
      <material name="servo_wheel_16_material">
        <color rgba="0.647059 0.647059 0.647059 1"/>
      </material>
    </visual>
    <collision>
      <origin xyz="-5.55112e-17 1.45717e-16 -0.0585" rpy="3.14159 -3.16517e-15 -3.14159"/>
      <geometry>
        <mesh filename="package://meshes\servo_wheel.stl"/>
      </geometry>
    </collision>
  </link>
  <!-- Link foot_assembly_3 -->
  <link name="foot_assembly_3">
    <inertial>
      <origin xyz="-0.0719605 -0.00210262 -0.0306706" rpy="0 0 0"/>
      <mass value="0.628062"/>
      <inertia ixx="0.000268406" ixy="-1.55227e-05" ixz="4.14924e-06" iyy="0.0031862" iyz="-2.26544e-07" izz="0.00302315"/>
    </inertial>
    <!-- Part foot_3 -->
    <visual>
      <origin xyz="-0.04425 6.93889e-18 -0.0305" rpy="1.66533e-16 1.5708 0"/>
      <geometry>
        <mesh filename="package://meshes\foot.stl"/>
      </geometry>
      <material name="foot_3_material">
        <color rgba="0.282353 0.54902 0.160784 1"/>
      </material>
    </visual>
    <collision>
      <origin xyz="-0.04425 6.93889e-18 -0.0305" rpy="1.66533e-16 1.5708 0"/>
      <geometry>
        <mesh filename="package://meshes\foot.stl"/>
      </geometry>
    </collision>
    <!-- Part ir_sensor_cap_3 -->
    <visual>
      <origin xyz="-0.0442455 6.98571e-05 -0.0305" rpy="-3.01108e-15 1.5708 0"/>
      <geometry>
        <mesh filename="package://meshes\ir_sensor_cap.stl"/>
      </geometry>
      <material name="ir_sensor_cap_3_material">
        <color rgba="0.282353 0.54902 0.160784 1"/>
      </material>
    </visual>
    <collision>
      <origin xyz="-0.0442455 6.98571e-05 -0.0305" rpy="-3.01108e-15 1.5708 0"/>
      <geometry>
        <mesh filename="package://meshes\ir_sensor_cap.stl"/>
      </geometry>
    </collision>
    <!-- Part rubber_foot_3 -->
    <visual>
      <origin xyz="-0.04375 5.93275e-16 -0.03" rpy="-2.61596e-15 1.5708 0"/>
      <geometry>
        <mesh filename="package://meshes\rubber_foot.stl"/>
      </geometry>
      <material name="rubber_foot_3_material">
        <color rgba="0.262745 0.282353 0.301961 1"/>
      </material>
    </visual>
    <collision>
      <origin xyz="-0.04375 5.93275e-16 -0.03" rpy="-2.61596e-15 1.5708 0"/>
      <geometry>
        <mesh filename="package://meshes\rubber_foot.stl"/>
      </geometry>
    </collision>
    <!-- Part servo_wheel_17 -->
    <visual>
      <origin xyz="-5.55112e-17 0 -0.0025" rpy="3.14159 1.61186e-18 8.08582e-30"/>
      <geometry>
        <mesh filename="package://meshes\servo_wheel.stl"/>
      </geometry>
      <material name="servo_wheel_17_material">
        <color rgba="0.647059 0.647059 0.647059 1"/>
      </material>
    </visual>
    <collision>
      <origin xyz="-5.55112e-17 0 -0.0025" rpy="3.14159 1.61186e-18 8.08582e-30"/>
      <geometry>
        <mesh filename="package://meshes\servo_wheel.stl"/>
      </geometry>
    </collision>
    <!-- Part servo_9 -->
    <visual>
      <origin xyz="-0.0175 -0.00140442 -0.0305" rpy="-3.14159 5.27312e-16 5.55112e-17"/>
      <geometry>
        <mesh filename="package://meshes\servo.stl"/>
      </geometry>
      <material name="servo_9_material">
        <color rgba="0.109804 0.109804 0.105882 1"/>
      </material>
    </visual>
    <collision>
      <origin xyz="-0.0175 -0.00140442 -0.0305" rpy="-3.14159 5.27312e-16 5.55112e-17"/>
      <geometry>
        <mesh filename="package://meshes\servo.stl"/>
      </geometry>
    </collision>
    <!-- Part fixed_bracket_9 -->
    <visual>
      <origin xyz="-0.0575 -2.94903e-16 -0.0305" rpy="1.5708 1.5708 0"/>
      <geometry>
        <mesh filename="package://meshes\fixed_bracket.stl"/>
      </geometry>
      <material name="fixed_bracket_9_material">
        <color rgba="0.647059 0.647059 0.647059 1"/>
      </material>
    </visual>
    <collision>
      <origin xyz="-0.0575 -2.94903e-16 -0.0305" rpy="1.5708 1.5708 0"/>
      <geometry>
        <mesh filename="package://meshes\fixed_bracket.stl"/>
      </geometry>
    </collision>
    <!-- Part servo_wheel_18 -->
    <visual>
      <origin xyz="-3.33067e-16 1.5439e-16 -0.0585" rpy="-3.14159 6.25977e-17 1.11022e-16"/>
      <geometry>
        <mesh filename="package://meshes\servo_wheel.stl"/>
      </geometry>
      <material name="servo_wheel_18_material">
        <color rgba="0.647059 0.647059 0.647059 1"/>
      </material>
    </visual>
    <collision>
      <origin xyz="-3.33067e-16 1.5439e-16 -0.0585" rpy="-3.14159 6.25977e-17 1.11022e-16"/>
      <geometry>
        <mesh filename="package://meshes\servo_wheel.stl"/>
      </geometry>
    </collision>
  </link>
  <!-- Joint from ties_assembly_3 to foot_assembly_3 -->
  <joint name="foot_3" type="revolute">
    <origin xyz="0.1918 0.000117091 -0.00186036" rpy="1.26193e-15 -1.75295e-15 -3.14159"/>
    <parent link="ties_assembly_3"/>
    <child link="foot_assembly_3"/>
    <axis xyz="0 0 1"/>
    <limit effort="10" velocity="10" lower="-2.0944" upper="2.0944"/>
  </joint>
  <!-- Joint from hip_assembly_3 to ties_assembly_3 -->
  <joint name="ties_3" type="revolute">
    <origin xyz="0.0925 -0.0311167 -0.0305" rpy="1.5708 -2.74219e-14 9.4696e-15"/>
    <parent link="hip_assembly_3"/>
    <child link="ties_assembly_3"/>
    <axis xyz="0 0 1"/>
    <limit effort="10" velocity="10" lower="-1.74533" upper="1.74533"/>
  </joint>
  <!-- Joint from base_link to hip_assembly_3 -->
  <joint name="hip_3" type="revolute">
    <origin xyz="-0.00815056 -0.167737 0.0174281" rpy="7.71669e-15 -8.74693e-15 -1.65806"/>
    <parent link="base_link"/>
    <child link="hip_assembly_3"/>
    <axis xyz="0 0 1"/>
    <limit effort="10" velocity="10" lower="-1.5708" upper="1.5708"/>
  </joint>
  <!-- Link hip_assembly_4 -->
  <link name="hip_assembly_4">
    <inertial>
      <origin xyz="0.0271153 0.000490209 -0.0317796" rpy="0 0 0"/>
      <mass value="0.38056"/>
      <inertia ixx="0.000187069" ixy="-3.08523e-06" ixz="7.85466e-06" iyy="0.000328441" iyz="1.17914e-06" izz="0.000302664"/>
    </inertial>
    <!-- Part hip_4 -->
    <visual>
      <origin xyz="0.0575 -5.55112e-17 -0.0045" rpy="-1.00936e-15 -9.85854e-16 3.14159"/>
      <geometry>
        <mesh filename="package://meshes\hip.stl"/>
      </geometry>
      <material name="hip_4_material">
        <color rgba="0.282353 0.54902 0.160784 1"/>
      </material>
    </visual>
    <collision>
      <origin xyz="0.0575 -5.55112e-17 -0.0045" rpy="-1.00936e-15 -9.85854e-16 3.14159"/>
      <geometry>
        <mesh filename="package://meshes\hip.stl"/>
      </geometry>
    </collision>
    <!-- Part mobile_bracket_13 -->
    <visual>
      <origin xyz="0.0575 3.1225e-17 -0.0305" rpy="-6.85694e-16 -8.32515e-16 -1.5708"/>
      <geometry>
        <mesh filename="package://meshes\mobile_bracket.stl"/>
      </geometry>
      <material name="mobile_bracket_13_material">
        <color rgba="0.647059 0.647059 0.647059 1"/>
      </material>
    </visual>
    <collision>
      <origin xyz="0.0575 3.1225e-17 -0.0305" rpy="-6.85694e-16 -8.32515e-16 -1.5708"/>
      <geometry>
        <mesh filename="package://meshes\mobile_bracket.stl"/>
      </geometry>
    </collision>
    <!-- Part servo_wheel_19 -->
    <visual>
      <origin xyz="5.55112e-17 -1.73472e-17 -0.0025" rpy="3.14159 -2.71148e-16 -3.14159"/>
      <geometry>
        <mesh filename="package://meshes\servo_wheel.stl"/>
      </geometry>
      <material name="servo_wheel_19_material">
        <color rgba="0.647059 0.647059 0.647059 1"/>
      </material>
    </visual>
    <collision>
      <origin xyz="5.55112e-17 -1.73472e-17 -0.0025" rpy="3.14159 -2.71148e-16 -3.14159"/>
      <geometry>
        <mesh filename="package://meshes\servo_wheel.stl"/>
      </geometry>
    </collision>
    <!-- Part servo_10 -->
    <visual>
      <origin xyz="0.0175 0.00140442 -0.0305" rpy="3.14159 -3.37018e-16 -3.14159"/>
      <geometry>
        <mesh filename="package://meshes\servo.stl"/>
      </geometry>
      <material name="servo_10_material">
        <color rgba="0.109804 0.109804 0.105882 1"/>
      </material>
    </visual>
    <collision>
      <origin xyz="0.0175 0.00140442 -0.0305" rpy="3.14159 -3.37018e-16 -3.14159"/>
      <geometry>
        <mesh filename="package://meshes\servo.stl"/>
      </geometry>
    </collision>
    <!-- Part fixed_bracket_10 -->
    <visual>
      <origin xyz="0.0575 3.1225e-17 -0.0305" rpy="-1.5708 1.5708 0"/>
      <geometry>
        <mesh filename="package://meshes\fixed_bracket.stl"/>
      </geometry>
      <material name="fixed_bracket_10_material">
        <color rgba="0.647059 0.647059 0.647059 1"/>
      </material>
    </visual>
    <collision>
      <origin xyz="0.0575 3.1225e-17 -0.0305" rpy="-1.5708 1.5708 0"/>
      <geometry>
        <mesh filename="package://meshes\fixed_bracket.stl"/>
      </geometry>
    </collision>
    <!-- Part servo_wheel_20 -->
    <visual>
      <origin xyz="2.77556e-17 -1.38778e-17 -0.0585" rpy="3.14159 -2.71148e-16 -3.14159"/>
      <geometry>
        <mesh filename="package://meshes\servo_wheel.stl"/>
      </geometry>
      <material name="servo_wheel_20_material">
        <color rgba="0.647059 0.647059 0.647059 1"/>
      </material>
    </visual>
    <collision>
      <origin xyz="2.77556e-17 -1.38778e-17 -0.0585" rpy="3.14159 -2.71148e-16 -3.14159"/>
      <geometry>
        <mesh filename="package://meshes\servo_wheel.stl"/>
      </geometry>
    </collision>
  </link>
  <!-- Link ties_assembly_4 -->
  <link name="ties_assembly_4">
    <inertial>
      <origin xyz="0.0639313 0.001561 -0.0314406" rpy="0 0 0"/>
      <mass value="0.581468"/>
      <inertia ixx="0.000317042" ixy="-2.4027e-05" ixz="2.78889e-05" iyy="0.00207548" iyz="-4.55023e-07" izz="0.00186094"/>
    </inertial>
    <!-- Part mobile_bracket_14 -->
    <visual>
      <origin xyz="0.1568 0.000117091 -0.0322436" rpy="1.5708 1.5708 0"/>
      <geometry>
        <mesh filename="package://meshes\mobile_bracket.stl"/>
      </geometry>
      <material name="mobile_bracket_14_material">
        <color rgba="0.647059 0.647059 0.647059 1"/>
      </material>
    </visual>
    <collision>
      <origin xyz="0.1568 0.000117091 -0.0322436" rpy="1.5708 1.5708 0"/>
      <geometry>
        <mesh filename="package://meshes\mobile_bracket.stl"/>
      </geometry>
    </collision>
    <!-- Part low_tie_4 -->
    <visual>
      <origin xyz="0.0268 0.000117091 -0.0322436" rpy="-1.20056e-15 1.5708 0"/>
      <geometry>
        <mesh filename="package://meshes\low_tie.stl"/>
      </geometry>
      <material name="low_tie_4_material">
        <color rgba="0.282353 0.54902 0.160784 1"/>
      </material>
    </visual>
    <collision>
      <origin xyz="0.0268 0.000117091 -0.0322436" rpy="-1.20056e-15 1.5708 0"/>
      <geometry>
        <mesh filename="package://meshes\low_tie.stl"/>
      </geometry>
    </collision>
    <!-- Part top_tie_4 -->
    <visual>
      <origin xyz="0.0275 2.25514e-17 -0.0305" rpy="-1.20056e-15 1.5708 0"/>
      <geometry>
        <mesh filename="package://meshes\top_tie.stl"/>
      </geometry>
      <material name="top_tie_4_material">
        <color rgba="0.282353 0.54902 0.160784 1"/>
      </material>
    </visual>
    <collision>
      <origin xyz="0.0275 2.25514e-17 -0.0305" rpy="-1.20056e-15 1.5708 0"/>
      <geometry>
        <mesh filename="package://meshes\top_tie.stl"/>
      </geometry>
    </collision>
    <!-- Part servo_wheel_21 -->
    <visual>
      <origin xyz="2.77556e-17 -1.73472e-18 -0.0025" rpy="3.14159 -2.29043e-15 -3.14159"/>
      <geometry>
        <mesh filename="package://meshes\servo_wheel.stl"/>
      </geometry>
      <material name="servo_wheel_21_material">
        <color rgba="0.647059 0.647059 0.647059 1"/>
      </material>
    </visual>
    <collision>
      <origin xyz="2.77556e-17 -1.73472e-18 -0.0025" rpy="3.14159 -2.29043e-15 -3.14159"/>
      <geometry>
        <mesh filename="package://meshes\servo_wheel.stl"/>
      </geometry>
    </collision>
    <!-- Part servo_11 -->
    <visual>
      <origin xyz="0.0175 0.00140442 -0.0305" rpy="3.14159 -2.31474e-15 -3.14159"/>
      <geometry>
        <mesh filename="package://meshes\servo.stl"/>
      </geometry>
      <material name="servo_11_material">
        <color rgba="0.109804 0.109804 0.105882 1"/>
      </material>
    </visual>
    <collision>
      <origin xyz="0.0175 0.00140442 -0.0305" rpy="3.14159 -2.31474e-15 -3.14159"/>
      <geometry>
        <mesh filename="package://meshes\servo.stl"/>
      </geometry>
    </collision>
    <!-- Part fixed_bracket_11 -->
    <visual>
      <origin xyz="0.0575 5.89806e-17 -0.0305" rpy="-1.5708 1.5708 0"/>
      <geometry>
        <mesh filename="package://meshes\fixed_bracket.stl"/>
      </geometry>
      <material name="fixed_bracket_11_material">
        <color rgba="0.647059 0.647059 0.647059 1"/>
      </material>
    </visual>
    <collision>
      <origin xyz="0.0575 5.89806e-17 -0.0305" rpy="-1.5708 1.5708 0"/>
      <geometry>
        <mesh filename="package://meshes\fixed_bracket.stl"/>
      </geometry>
    </collision>
    <!-- Part servo_wheel_22 -->
    <visual>
      <origin xyz="-1.11022e-16 -5.20417e-18 -0.0585" rpy="3.14159 -6.70105e-16 -3.14159"/>
      <geometry>
        <mesh filename="package://meshes\servo_wheel.stl"/>
      </geometry>
      <material name="servo_wheel_22_material">
        <color rgba="0.647059 0.647059 0.647059 1"/>
      </material>
    </visual>
    <collision>
      <origin xyz="-1.11022e-16 -5.20417e-18 -0.0585" rpy="3.14159 -6.70105e-16 -3.14159"/>
      <geometry>
        <mesh filename="package://meshes\servo_wheel.stl"/>
      </geometry>
    </collision>
  </link>
  <!-- Link foot_assembly_4 -->
  <link name="foot_assembly_4">
    <inertial>
      <origin xyz="-0.0719605 -0.00210262 -0.0306706" rpy="0 0 0"/>
      <mass value="0.628062"/>
      <inertia ixx="0.000268406" ixy="-1.55227e-05" ixz="4.14924e-06" iyy="0.0031862" iyz="-2.26544e-07" izz="0.00302315"/>
    </inertial>
    <!-- Part foot_4 -->
    <visual>
      <origin xyz="-0.04425 5.20417e-18 -0.0305" rpy="-8.87469e-31 1.5708 0"/>
      <geometry>
        <mesh filename="package://meshes\foot.stl"/>
      </geometry>
      <material name="foot_4_material">
        <color rgba="0.282353 0.54902 0.160784 1"/>
      </material>
    </visual>
    <collision>
      <origin xyz="-0.04425 5.20417e-18 -0.0305" rpy="-8.87469e-31 1.5708 0"/>
      <geometry>
        <mesh filename="package://meshes\foot.stl"/>
      </geometry>
    </collision>
    <!-- Part ir_sensor_cap_4 -->
    <visual>
      <origin xyz="-0.0442455 6.98571e-05 -0.0305" rpy="4.3291e-16 1.5708 0"/>
      <geometry>
        <mesh filename="package://meshes\ir_sensor_cap.stl"/>
      </geometry>
      <material name="ir_sensor_cap_4_material">
        <color rgba="0.282353 0.54902 0.160784 1"/>
      </material>
    </visual>
    <collision>
      <origin xyz="-0.0442455 6.98571e-05 -0.0305" rpy="4.3291e-16 1.5708 0"/>
      <geometry>
        <mesh filename="package://meshes\ir_sensor_cap.stl"/>
      </geometry>
    </collision>
    <!-- Part rubber_foot_4 -->
    <visual>
      <origin xyz="-0.04375 2.7929e-16 -0.03" rpy="-1.30451e-15 1.5708 0"/>
      <geometry>
        <mesh filename="package://meshes\rubber_foot.stl"/>
      </geometry>
      <material name="rubber_foot_4_material">
        <color rgba="0.262745 0.282353 0.301961 1"/>
      </material>
    </visual>
    <collision>
      <origin xyz="-0.04375 2.7929e-16 -0.03" rpy="-1.30451e-15 1.5708 0"/>
      <geometry>
        <mesh filename="package://meshes\rubber_foot.stl"/>
      </geometry>
    </collision>
    <!-- Part servo_wheel_23 -->
    <visual>
      <origin xyz="5.55112e-17 1.73472e-18 -0.0025" rpy="-3.14159 -6.6826e-17 8.87469e-31"/>
      <geometry>
        <mesh filename="package://meshes\servo_wheel.stl"/>
      </geometry>
      <material name="servo_wheel_23_material">
        <color rgba="0.647059 0.647059 0.647059 1"/>
      </material>
    </visual>
    <collision>
      <origin xyz="5.55112e-17 1.73472e-18 -0.0025" rpy="-3.14159 -6.6826e-17 8.87469e-31"/>
      <geometry>
        <mesh filename="package://meshes\servo_wheel.stl"/>
      </geometry>
    </collision>
    <!-- Part servo_12 -->
    <visual>
      <origin xyz="-0.0175 -0.00140442 -0.0305" rpy="-3.14159 -7.00196e-17 8.87469e-31"/>
      <geometry>
        <mesh filename="package://meshes\servo.stl"/>
      </geometry>
      <material name="servo_12_material">
        <color rgba="0.109804 0.109804 0.105882 1"/>
      </material>
    </visual>
    <collision>
      <origin xyz="-0.0175 -0.00140442 -0.0305" rpy="-3.14159 -7.00196e-17 8.87469e-31"/>
      <geometry>
        <mesh filename="package://meshes\servo.stl"/>
      </geometry>
    </collision>
    <!-- Part fixed_bracket_12 -->
    <visual>
      <origin xyz="-0.0575 5.20417e-18 -0.0305" rpy="1.5708 1.5708 0"/>
      <geometry>
        <mesh filename="package://meshes\fixed_bracket.stl"/>
      </geometry>
      <material name="fixed_bracket_12_material">
        <color rgba="0.647059 0.647059 0.647059 1"/>
      </material>
    </visual>
    <collision>
      <origin xyz="-0.0575 5.20417e-18 -0.0305" rpy="1.5708 1.5708 0"/>
      <geometry>
        <mesh filename="package://meshes\fixed_bracket.stl"/>
      </geometry>
    </collision>
    <!-- Part servo_wheel_24 -->
    <visual>
      <origin xyz="8.88178e-16 0 -0.0585" rpy="-3.14159 -6.48186e-17 8.87469e-31"/>
      <geometry>
        <mesh filename="package://meshes\servo_wheel.stl"/>
      </geometry>
      <material name="servo_wheel_24_material">
        <color rgba="0.647059 0.647059 0.647059 1"/>
      </material>
    </visual>
    <collision>
      <origin xyz="8.88178e-16 0 -0.0585" rpy="-3.14159 -6.48186e-17 8.87469e-31"/>
      <geometry>
        <mesh filename="package://meshes\servo_wheel.stl"/>
      </geometry>
    </collision>
  </link>
  <!-- Joint from ties_assembly_4 to foot_assembly_4 -->
  <joint name="foot_4" type="revolute">
    <origin xyz="0.1918 0.000117091 -0.00186036" rpy="-1.51606e-14 -1.33155e-14 -3.14159"/>
    <parent link="ties_assembly_4"/>
    <child link="foot_assembly_4"/>
    <axis xyz="0 0 1"/>
    <limit effort="10" velocity="10" lower="-2.0944" upper="2.0944"/>
  </joint>
  <!-- Joint from hip_assembly_4 to ties_assembly_4 -->
  <joint name="ties_4" type="revolute">
    <origin xyz="0.0925 -0.0311167 -0.0305" rpy="1.5708 6.85694e-16 -2.44517e-16"/>
    <parent link="hip_assembly_4"/>
    <child link="ties_assembly_4"/>
    <axis xyz="0 0 1"/>
    <limit effort="10" velocity="10" lower="-1.74533" upper="1.74533"/>
  </joint>
  <!-- Joint from base_link to hip_assembly_4 -->
  <joint name="hip_4" type="revolute">
    <origin xyz="-0.132676 -0.0805438 0.0174281" rpy="2.48412e-14 2.47371e-14 -2.70526"/>
    <parent link="base_link"/>
    <child link="hip_assembly_4"/>
    <axis xyz="0 0 1"/>
    <limit effort="10" velocity="10" lower="-1.5708" upper="1.5708"/>
  </joint>
  <!-- Link hip_assembly_5 -->
  <link name="hip_assembly_5">
    <inertial>
      <origin xyz="0.0271153 0.000490209 -0.0317796" rpy="0 0 0"/>
      <mass value="0.38056"/>
      <inertia ixx="0.000187069" ixy="-3.08523e-06" ixz="7.85466e-06" iyy="0.000328441" iyz="1.17914e-06" izz="0.000302664"/>
    </inertial>
    <!-- Part hip_5 -->
    <visual>
      <origin xyz="0.0575 -1.5439e-16 -0.0045" rpy="3.68281e-15 -7.55489e-15 3.14159"/>
      <geometry>
        <mesh filename="package://meshes\hip.stl"/>
      </geometry>
      <material name="hip_5_material">
        <color rgba="0.282353 0.54902 0.160784 1"/>
      </material>
    </visual>
    <collision>
      <origin xyz="0.0575 -1.5439e-16 -0.0045" rpy="3.68281e-15 -7.55489e-15 3.14159"/>
      <geometry>
        <mesh filename="package://meshes\hip.stl"/>
      </geometry>
    </collision>
    <!-- Part mobile_bracket_15 -->
    <visual>
      <origin xyz="0.0575 -2.91434e-16 -0.0305" rpy="-7.61127e-15 -1.9473e-15 -1.5708"/>
      <geometry>
        <mesh filename="package://meshes\mobile_bracket.stl"/>
      </geometry>
      <material name="mobile_bracket_15_material">
        <color rgba="0.647059 0.647059 0.647059 1"/>
      </material>
    </visual>
    <collision>
      <origin xyz="0.0575 -2.91434e-16 -0.0305" rpy="-7.61127e-15 -1.9473e-15 -1.5708"/>
      <geometry>
        <mesh filename="package://meshes\mobile_bracket.stl"/>
      </geometry>
    </collision>
    <!-- Part servo_wheel_25 -->
    <visual>
      <origin xyz="-1.11022e-16 -1.249e-16 -0.0025" rpy="3.14159 -7.61127e-15 3.14159"/>
      <geometry>
        <mesh filename="package://meshes\servo_wheel.stl"/>
      </geometry>
      <material name="servo_wheel_25_material">
        <color rgba="0.647059 0.647059 0.647059 1"/>
      </material>
    </visual>
    <collision>
      <origin xyz="-1.11022e-16 -1.249e-16 -0.0025" rpy="3.14159 -7.61127e-15 3.14159"/>
      <geometry>
        <mesh filename="package://meshes\servo_wheel.stl"/>
      </geometry>
    </collision>
    <!-- Part servo_13 -->
    <visual>
      <origin xyz="0.0175 0.00140442 -0.0305" rpy="-3.14159 -7.61127e-15 3.14159"/>
      <geometry>
        <mesh filename="package://meshes\servo.stl"/>
      </geometry>
      <material name="servo_13_material">
        <color rgba="0.109804 0.109804 0.105882 1"/>
      </material>
    </visual>
    <collision>
      <origin xyz="0.0175 0.00140442 -0.0305" rpy="-3.14159 -7.61127e-15 3.14159"/>
      <geometry>
        <mesh filename="package://meshes\servo.stl"/>
      </geometry>
    </collision>
    <!-- Part fixed_bracket_13 -->
    <visual>
      <origin xyz="0.0575 -2.498e-16 -0.0305" rpy="-1.5708 1.5708 0"/>
      <geometry>
        <mesh filename="package://meshes\fixed_bracket.stl"/>
      </geometry>
      <material name="fixed_bracket_13_material">
        <color rgba="0.647059 0.647059 0.647059 1"/>
      </material>
    </visual>
    <collision>
      <origin xyz="0.0575 -2.498e-16 -0.0305" rpy="-1.5708 1.5708 0"/>
      <geometry>
        <mesh filename="package://meshes\fixed_bracket.stl"/>
      </geometry>
    </collision>
    <!-- Part servo_wheel_26 -->
    <visual>
      <origin xyz="-6.93889e-16 -1.2837e-16 -0.0585" rpy="-3.14159 -7.61127e-15 3.14159"/>
      <geometry>
        <mesh filename="package://meshes\servo_wheel.stl"/>
      </geometry>
      <material name="servo_wheel_26_material">
        <color rgba="0.647059 0.647059 0.647059 1"/>
      </material>
    </visual>
    <collision>
      <origin xyz="-6.93889e-16 -1.2837e-16 -0.0585" rpy="-3.14159 -7.61127e-15 3.14159"/>
      <geometry>
        <mesh filename="package://meshes\servo_wheel.stl"/>
      </geometry>
    </collision>
  </link>
  <!-- Link ties_assembly_5 -->
  <link name="ties_assembly_5">
    <inertial>
      <origin xyz="0.0639313 0.001561 -0.0314406" rpy="0 0 0"/>
      <mass value="0.581468"/>
      <inertia ixx="0.000317042" ixy="-2.4027e-05" ixz="2.78889e-05" iyy="0.00207548" iyz="-4.55023e-07" izz="0.00186094"/>
    </inertial>
    <!-- Part mobile_bracket_16 -->
    <visual>
      <origin xyz="0.1568 0.000117091 -0.0322436" rpy="1.5708 1.5708 0"/>
      <geometry>
        <mesh filename="package://meshes\mobile_bracket.stl"/>
      </geometry>
      <material name="mobile_bracket_16_material">
        <color rgba="0.647059 0.647059 0.647059 1"/>
      </material>
    </visual>
    <collision>
      <origin xyz="0.1568 0.000117091 -0.0322436" rpy="1.5708 1.5708 0"/>
      <geometry>
        <mesh filename="package://meshes\mobile_bracket.stl"/>
      </geometry>
    </collision>
    <!-- Part low_tie_5 -->
    <visual>
      <origin xyz="0.0268 0.000117091 -0.0322436" rpy="3.86877e-16 1.5708 0"/>
      <geometry>
        <mesh filename="package://meshes\low_tie.stl"/>
      </geometry>
      <material name="low_tie_5_material">
        <color rgba="0.282353 0.54902 0.160784 1"/>
      </material>
    </visual>
    <collision>
      <origin xyz="0.0268 0.000117091 -0.0322436" rpy="3.86877e-16 1.5708 0"/>
      <geometry>
        <mesh filename="package://meshes\low_tie.stl"/>
      </geometry>
    </collision>
    <!-- Part top_tie_5 -->
    <visual>
      <origin xyz="0.0275 -9.71445e-17 -0.0305" rpy="3.86877e-16 1.5708 0"/>
      <geometry>
        <mesh filename="package://meshes\top_tie.stl"/>
      </geometry>
      <material name="top_tie_5_material">
        <color rgba="0.282353 0.54902 0.160784 1"/>
      </material>
    </visual>
    <collision>
      <origin xyz="0.0275 -9.71445e-17 -0.0305" rpy="3.86877e-16 1.5708 0"/>
      <geometry>
        <mesh filename="package://meshes\top_tie.stl"/>
      </geometry>
    </collision>
    <!-- Part servo_wheel_27 -->
    <visual>
      <origin xyz="-8.32667e-17 -7.97973e-17 -0.0025" rpy="3.14159 2.46181e-15 3.14159"/>
      <geometry>
        <mesh filename="package://meshes\servo_wheel.stl"/>
      </geometry>
      <material name="servo_wheel_27_material">
        <color rgba="0.647059 0.647059 0.647059 1"/>
      </material>
    </visual>
    <collision>
      <origin xyz="-8.32667e-17 -7.97973e-17 -0.0025" rpy="3.14159 2.46181e-15 3.14159"/>
      <geometry>
        <mesh filename="package://meshes\servo_wheel.stl"/>
      </geometry>
    </collision>
    <!-- Part servo_14 -->
    <visual>
      <origin xyz="0.0175 0.00140442 -0.0305" rpy="3.14159 2.48189e-15 3.14159"/>
      <geometry>
        <mesh filename="package://meshes\servo.stl"/>
      </geometry>
      <material name="servo_14_material">
        <color rgba="0.109804 0.109804 0.105882 1"/>
      </material>
    </visual>
    <collision>
      <origin xyz="0.0175 0.00140442 -0.0305" rpy="3.14159 2.48189e-15 3.14159"/>
      <geometry>
        <mesh filename="package://meshes\servo.stl"/>
      </geometry>
    </collision>
    <!-- Part fixed_bracket_14 -->
    <visual>
      <origin xyz="0.0575 -1.09288e-16 -0.0305" rpy="-1.5708 1.5708 0"/>
      <geometry>
        <mesh filename="package://meshes\fixed_bracket.stl"/>
      </geometry>
      <material name="fixed_bracket_14_material">
        <color rgba="0.647059 0.647059 0.647059 1"/>
      </material>
    </visual>
    <collision>
      <origin xyz="0.0575 -1.09288e-16 -0.0305" rpy="-1.5708 1.5708 0"/>
      <geometry>
        <mesh filename="package://meshes\fixed_bracket.stl"/>
      </geometry>
    </collision>
    <!-- Part servo_wheel_28 -->
    <visual>
      <origin xyz="-1.11022e-16 -8.1532e-17 -0.0585" rpy="-3.14159 2.47248e-15 3.14159"/>
      <geometry>
        <mesh filename="package://meshes\servo_wheel.stl"/>
      </geometry>
      <material name="servo_wheel_28_material">
        <color rgba="0.647059 0.647059 0.647059 1"/>
      </material>
    </visual>
    <collision>
      <origin xyz="-1.11022e-16 -8.1532e-17 -0.0585" rpy="-3.14159 2.47248e-15 3.14159"/>
      <geometry>
        <mesh filename="package://meshes\servo_wheel.stl"/>
      </geometry>
    </collision>
  </link>
  <!-- Link foot_assembly_5 -->
  <link name="foot_assembly_5">
    <inertial>
      <origin xyz="-0.0719605 -0.00210262 -0.0306706" rpy="0 0 0"/>
      <mass value="0.628062"/>
      <inertia ixx="0.000268406" ixy="-1.55227e-05" ixz="4.14924e-06" iyy="0.0031862" iyz="-2.26544e-07" izz="0.00302315"/>
    </inertial>
    <!-- Part foot_5 -->
    <visual>
      <origin xyz="-0.04425 1.45717e-16 -0.0305" rpy="-4.44089e-16 1.5708 0"/>
      <geometry>
        <mesh filename="package://meshes\foot.stl"/>
      </geometry>
      <material name="foot_5_material">
        <color rgba="0.282353 0.54902 0.160784 1"/>
      </material>
    </visual>
    <collision>
      <origin xyz="-0.04425 1.45717e-16 -0.0305" rpy="-4.44089e-16 1.5708 0"/>
      <geometry>
        <mesh filename="package://meshes\foot.stl"/>
      </geometry>
    </collision>
    <!-- Part ir_sensor_cap_5 -->
    <visual>
      <origin xyz="-0.0442455 6.98571e-05 -0.0305" rpy="1.49265e-15 1.5708 0"/>
      <geometry>
        <mesh filename="package://meshes\ir_sensor_cap.stl"/>
      </geometry>
      <material name="ir_sensor_cap_5_material">
        <color rgba="0.282353 0.54902 0.160784 1"/>
      </material>
    </visual>
    <collision>
      <origin xyz="-0.0442455 6.98571e-05 -0.0305" rpy="1.49265e-15 1.5708 0"/>
      <geometry>
        <mesh filename="package://meshes\ir_sensor_cap.stl"/>
      </geometry>
    </collision>
    <!-- Part rubber_foot_5 -->
    <visual>
      <origin xyz="-0.04375 6.69603e-16 -0.03" rpy="-2.05391e-15 1.5708 0"/>
      <geometry>
        <mesh filename="package://meshes\rubber_foot.stl"/>
      </geometry>
      <material name="rubber_foot_5_material">
        <color rgba="0.262745 0.282353 0.301961 1"/>
      </material>
    </visual>
    <collision>
      <origin xyz="-0.04375 6.69603e-16 -0.03" rpy="-2.05391e-15 1.5708 0"/>
      <geometry>
        <mesh filename="package://meshes\rubber_foot.stl"/>
      </geometry>
    </collision>
    <!-- Part servo_wheel_29 -->
    <visual>
      <origin xyz="0 0 -0.0025" rpy="3.14159 4.1793e-18 4.33873e-30"/>
      <geometry>
        <mesh filename="package://meshes\servo_wheel.stl"/>
      </geometry>
      <material name="servo_wheel_29_material">
        <color rgba="0.647059 0.647059 0.647059 1"/>
      </material>
    </visual>
    <collision>
      <origin xyz="0 0 -0.0025" rpy="3.14159 4.1793e-18 4.33873e-30"/>
      <geometry>
        <mesh filename="package://meshes\servo_wheel.stl"/>
      </geometry>
    </collision>
    <!-- Part servo_15 -->
    <visual>
      <origin xyz="-0.0175 -0.00140442 -0.0305" rpy="3.14159 7.38604e-17 1.69605e-29"/>
      <geometry>
        <mesh filename="package://meshes\servo.stl"/>
      </geometry>
      <material name="servo_15_material">
        <color rgba="0.109804 0.109804 0.105882 1"/>
      </material>
    </visual>
    <collision>
      <origin xyz="-0.0175 -0.00140442 -0.0305" rpy="3.14159 7.38604e-17 1.69605e-29"/>
      <geometry>
        <mesh filename="package://meshes\servo.stl"/>
      </geometry>
    </collision>
    <!-- Part fixed_bracket_15 -->
    <visual>
      <origin xyz="-0.0575 6.93889e-18 -0.0305" rpy="1.5708 1.5708 0"/>
      <geometry>
        <mesh filename="package://meshes\fixed_bracket.stl"/>
      </geometry>
      <material name="fixed_bracket_15_material">
        <color rgba="0.647059 0.647059 0.647059 1"/>
      </material>
    </visual>
    <collision>
      <origin xyz="-0.0575 6.93889e-18 -0.0305" rpy="1.5708 1.5708 0"/>
      <geometry>
        <mesh filename="package://meshes\fixed_bracket.stl"/>
      </geometry>
    </collision>
    <!-- Part servo_wheel_30 -->
    <visual>
      <origin xyz="-1.66533e-16 -1.73472e-18 -0.0585" rpy="3.14159 7.38604e-17 1.69605e-29"/>
      <geometry>
        <mesh filename="package://meshes\servo_wheel.stl"/>
      </geometry>
      <material name="servo_wheel_30_material">
        <color rgba="0.647059 0.647059 0.647059 1"/>
      </material>
    </visual>
    <collision>
      <origin xyz="-1.66533e-16 -1.73472e-18 -0.0585" rpy="3.14159 7.38604e-17 1.69605e-29"/>
      <geometry>
        <mesh filename="package://meshes\servo_wheel.stl"/>
      </geometry>
    </collision>
  </link>
  <!-- Joint from ties_assembly_5 to foot_assembly_5 -->
  <joint name="foot_5" type="revolute">
    <origin xyz="0.1918 0.000117091 -0.00186036" rpy="3.30023e-17 1.82639e-15 3.14159"/>
    <parent link="ties_assembly_5"/>
    <child link="foot_assembly_5"/>
    <axis xyz="0 0 1"/>
    <limit effort="10" velocity="10" lower="-2.0944" upper="2.0944"/>
  </joint>
  <!-- Joint from hip_assembly_5 to ties_assembly_5 -->
  <joint name="ties_5" type="revolute">
    <origin xyz="0.0925 -0.0311167 -0.0305" rpy="1.5708 7.61127e-15 1.9026e-16"/>
    <parent link="hip_assembly_5"/>
    <child link="ties_assembly_5"/>
    <axis xyz="0 0 1"/>
    <limit effort="10" velocity="10" lower="-1.74533" upper="1.74533"/>
  </joint>
  <!-- Joint from base_link to hip_assembly_5 -->
  <joint name="hip_5" type="revolute">
    <origin xyz="-0.119426 0.0708948 0.0174281" rpy="-4.50694e-15 3.38573e-14 2.53073"/>
    <parent link="base_link"/>
    <child link="hip_assembly_5"/>
    <axis xyz="0 0 1"/>
    <limit effort="10" velocity="10" lower="-1.5708" upper="1.5708"/>
  </joint>
  <!-- Link hip_assembly_6 -->
  <link name="hip_assembly_6">
    <inertial>
      <origin xyz="0.0271153 0.000490209 -0.0317796" rpy="0 0 0"/>
      <mass value="0.38056"/>
      <inertia ixx="0.000187069" ixy="-3.08523e-06" ixz="7.85466e-06" iyy="0.000328441" iyz="1.17914e-06" izz="0.000302664"/>
    </inertial>
    <!-- Part hip_6 -->
    <visual>
      <origin xyz="0.0575 -2.71484e-16 -0.0045" rpy="2.66188e-15 -1.96349e-15 -3.14159"/>
      <geometry>
        <mesh filename="package://meshes\hip.stl"/>
      </geometry>
      <material name="hip_6_material">
        <color rgba="0.282353 0.54902 0.160784 1"/>
      </material>
    </visual>
    <collision>
      <origin xyz="0.0575 -2.71484e-16 -0.0045" rpy="2.66188e-15 -1.96349e-15 -3.14159"/>
      <geometry>
        <mesh filename="package://meshes\hip.stl"/>
      </geometry>
    </collision>
    <!-- Part mobile_bracket_17 -->
    <visual>
      <origin xyz="0.0575 -9.71445e-17 -0.0305" rpy="-3.18423e-14 7.47715e-14 -1.5708"/>
      <geometry>
        <mesh filename="package://meshes\mobile_bracket.stl"/>
      </geometry>
      <material name="mobile_bracket_17_material">
        <color rgba="0.647059 0.647059 0.647059 1"/>
      </material>
    </visual>
    <collision>
      <origin xyz="0.0575 -9.71445e-17 -0.0305" rpy="-3.18423e-14 7.47715e-14 -1.5708"/>
      <geometry>
        <mesh filename="package://meshes\mobile_bracket.stl"/>
      </geometry>
    </collision>
    <!-- Part servo_wheel_31 -->
    <visual>
      <origin xyz="-8.32667e-17 -7.45931e-17 -0.0025" rpy="-3.14159 -1.99104e-15 3.14159"/>
      <geometry>
        <mesh filename="package://meshes\servo_wheel.stl"/>
      </geometry>
      <material name="servo_wheel_31_material">
        <color rgba="0.647059 0.647059 0.647059 1"/>
      </material>
    </visual>
    <collision>
      <origin xyz="-8.32667e-17 -7.45931e-17 -0.0025" rpy="-3.14159 -1.99104e-15 3.14159"/>
      <geometry>
        <mesh filename="package://meshes\servo_wheel.stl"/>
      </geometry>
    </collision>
    <!-- Part servo_16 -->
    <visual>
      <origin xyz="0.0175 0.00140442 -0.0305" rpy="3.14159 -3.00037e-14 3.14159"/>
      <geometry>
        <mesh filename="package://meshes\servo.stl"/>
      </geometry>
      <material name="servo_16_material">
        <color rgba="0.109804 0.109804 0.105882 1"/>
      </material>
    </visual>
    <collision>
      <origin xyz="0.0175 0.00140442 -0.0305" rpy="3.14159 -3.00037e-14 3.14159"/>
      <geometry>
        <mesh filename="package://meshes\servo.stl"/>
      </geometry>
    </collision>
    <!-- Part fixed_bracket_16 -->
    <visual>
      <origin xyz="0.0575 -9.71445e-17 -0.0305" rpy="-1.5708 1.5708 0"/>
      <geometry>
        <mesh filename="package://meshes\fixed_bracket.stl"/>
      </geometry>
      <material name="fixed_bracket_16_material">
        <color rgba="0.647059 0.647059 0.647059 1"/>
      </material>
    </visual>
    <collision>
      <origin xyz="0.0575 -9.71445e-17 -0.0305" rpy="-1.5708 1.5708 0"/>
      <geometry>
        <mesh filename="package://meshes\fixed_bracket.stl"/>
      </geometry>
    </collision>
    <!-- Part servo_wheel_32 -->
    <visual>
      <origin xyz="1.36002e-15 6.245e-17 -0.0585" rpy="-3.14159 -1.99967e-15 -3.14159"/>
      <geometry>
        <mesh filename="package://meshes\servo_wheel.stl"/>
      </geometry>
      <material name="servo_wheel_32_material">
        <color rgba="0.647059 0.647059 0.647059 1"/>
      </material>
    </visual>
    <collision>
      <origin xyz="1.36002e-15 6.245e-17 -0.0585" rpy="-3.14159 -1.99967e-15 -3.14159"/>
      <geometry>
        <mesh filename="package://meshes\servo_wheel.stl"/>
      </geometry>
    </collision>
  </link>
  <!-- Link ties_assembly_6 -->
  <link name="ties_assembly_6">
    <inertial>
      <origin xyz="0.0639313 0.001561 -0.0314406" rpy="0 0 0"/>
      <mass value="0.581468"/>
      <inertia ixx="0.000317042" ixy="-2.4027e-05" ixz="2.78889e-05" iyy="0.00207548" iyz="-4.55023e-07" izz="0.00186094"/>
    </inertial>
    <!-- Part mobile_bracket_18 -->
    <visual>
      <origin xyz="0.1568 0.000117091 -0.0322436" rpy="1.5708 1.5708 0"/>
      <geometry>
        <mesh filename="package://meshes\mobile_bracket.stl"/>
      </geometry>
      <material name="mobile_bracket_18_material">
        <color rgba="0.647059 0.647059 0.647059 1"/>
      </material>
    </visual>
    <collision>
      <origin xyz="0.1568 0.000117091 -0.0322436" rpy="1.5708 1.5708 0"/>
      <geometry>
        <mesh filename="package://meshes\mobile_bracket.stl"/>
      </geometry>
    </collision>
    <!-- Part low_tie_6 -->
    <visual>
      <origin xyz="0.0268 0.000117091 -0.0322436" rpy="-3.23374e-14 1.5708 0"/>
      <geometry>
        <mesh filename="package://meshes\low_tie.stl"/>
      </geometry>
      <material name="low_tie_6_material">
        <color rgba="0.282353 0.54902 0.160784 1"/>
      </material>
    </visual>
    <collision>
      <origin xyz="0.0268 0.000117091 -0.0322436" rpy="-3.23374e-14 1.5708 0"/>
      <geometry>
        <mesh filename="package://meshes\low_tie.stl"/>
      </geometry>
    </collision>
    <!-- Part top_tie_6 -->
    <visual>
      <origin xyz="0.0275 8.7777e-16 -0.0305" rpy="-3.23374e-14 1.5708 0"/>
      <geometry>
        <mesh filename="package://meshes\top_tie.stl"/>
      </geometry>
      <material name="top_tie_6_material">
        <color rgba="0.282353 0.54902 0.160784 1"/>
      </material>
    </visual>
    <collision>
      <origin xyz="0.0275 8.7777e-16 -0.0305" rpy="-3.23374e-14 1.5708 0"/>
      <geometry>
        <mesh filename="package://meshes\top_tie.stl"/>
      </geometry>
    </collision>
    <!-- Part servo_wheel_33 -->
    <visual>
      <origin xyz="0 -1.73472e-18 -0.0025" rpy="3.14159 -7.54497e-17 -3.14159"/>
      <geometry>
        <mesh filename="package://meshes\servo_wheel.stl"/>
      </geometry>
      <material name="servo_wheel_33_material">
        <color rgba="0.647059 0.647059 0.647059 1"/>
      </material>
    </visual>
    <collision>
      <origin xyz="0 -1.73472e-18 -0.0025" rpy="3.14159 -7.54497e-17 -3.14159"/>
      <geometry>
        <mesh filename="package://meshes\servo_wheel.stl"/>
      </geometry>
    </collision>
    <!-- Part servo_17 -->
    <visual>
      <origin xyz="0.0175 0.00140442 -0.0305" rpy="-3.14159 -8.9707e-17 -3.14159"/>
      <geometry>
        <mesh filename="package://meshes\servo.stl"/>
      </geometry>
      <material name="servo_17_material">
        <color rgba="0.109804 0.109804 0.105882 1"/>
      </material>
    </visual>
    <collision>
      <origin xyz="0.0175 0.00140442 -0.0305" rpy="-3.14159 -8.9707e-17 -3.14159"/>
      <geometry>
        <mesh filename="package://meshes\servo.stl"/>
      </geometry>
    </collision>
    <!-- Part fixed_bracket_17 -->
    <visual>
      <origin xyz="0.0575 1.84922e-15 -0.0305" rpy="-1.5708 1.5708 0"/>
      <geometry>
        <mesh filename="package://meshes\fixed_bracket.stl"/>
      </geometry>
      <material name="fixed_bracket_17_material">
        <color rgba="0.647059 0.647059 0.647059 1"/>
      </material>
    </visual>
    <collision>
      <origin xyz="0.0575 1.84922e-15 -0.0305" rpy="-1.5708 1.5708 0"/>
      <geometry>
        <mesh filename="package://meshes\fixed_bracket.stl"/>
      </geometry>
    </collision>
    <!-- Part servo_wheel_34 -->
    <visual>
      <origin xyz="8.88178e-16 0 -0.0585" rpy="-3.14159 3.4583e-14 -3.14159"/>
      <geometry>
        <mesh filename="package://meshes\servo_wheel.stl"/>
      </geometry>
      <material name="servo_wheel_34_material">
        <color rgba="0.647059 0.647059 0.647059 1"/>
      </material>
    </visual>
    <collision>
      <origin xyz="8.88178e-16 0 -0.0585" rpy="-3.14159 3.4583e-14 -3.14159"/>
      <geometry>
        <mesh filename="package://meshes\servo_wheel.stl"/>
      </geometry>
    </collision>
  </link>
  <!-- Link foot_assembly_6 -->
  <link name="foot_assembly_6">
    <inertial>
      <origin xyz="-0.0719605 -0.00210262 -0.0306706" rpy="0 0 0"/>
      <mass value="0.628062"/>
      <inertia ixx="0.000268406" ixy="-1.55227e-05" ixz="4.14924e-06" iyy="0.0031862" iyz="-2.26544e-07" izz="0.00302315"/>
    </inertial>
    <!-- Part foot_6 -->
    <visual>
      <origin xyz="-0.04425 3.1225e-17 -0.0305" rpy="1.77636e-15 1.5708 0"/>
      <geometry>
        <mesh filename="package://meshes\foot.stl"/>
      </geometry>
      <material name="foot_6_material">
        <color rgba="0.282353 0.54902 0.160784 1"/>
      </material>
    </visual>
    <collision>
      <origin xyz="-0.04425 3.1225e-17 -0.0305" rpy="1.77636e-15 1.5708 0"/>
      <geometry>
        <mesh filename="package://meshes\foot.stl"/>
      </geometry>
    </collision>
    <!-- Part ir_sensor_cap_6 -->
    <visual>
      <origin xyz="-0.0442455 6.98571e-05 -0.0305" rpy="3.5116e-15 1.5708 0"/>
      <geometry>
        <mesh filename="package://meshes\ir_sensor_cap.stl"/>
      </geometry>
      <material name="ir_sensor_cap_6_material">
        <color rgba="0.282353 0.54902 0.160784 1"/>
      </material>
    </visual>
    <collision>
      <origin xyz="-0.0442455 6.98571e-05 -0.0305" rpy="3.5116e-15 1.5708 0"/>
      <geometry>
        <mesh filename="package://meshes\ir_sensor_cap.stl"/>
      </geometry>
    </collision>
    <!-- Part rubber_foot_6 -->
    <visual>
      <origin xyz="-0.04375 1.70697e-15 -0.03" rpy="-6.33599e-15 1.5708 0"/>
      <geometry>
        <mesh filename="package://meshes\rubber_foot.stl"/>
      </geometry>
      <material name="rubber_foot_6_material">
        <color rgba="0.262745 0.282353 0.301961 1"/>
      </material>
    </visual>
    <collision>
      <origin xyz="-0.04375 1.70697e-15 -0.03" rpy="-6.33599e-15 1.5708 0"/>
      <geometry>
        <mesh filename="package://meshes\rubber_foot.stl"/>
      </geometry>
    </collision>
    <!-- Part servo_wheel_35 -->
    <visual>
      <origin xyz="5.55112e-17 0 -0.0025" rpy="-3.14159 1.00961e-18 4.43734e-31"/>
      <geometry>
        <mesh filename="package://meshes\servo_wheel.stl"/>
      </geometry>
      <material name="servo_wheel_35_material">
        <color rgba="0.647059 0.647059 0.647059 1"/>
      </material>
    </visual>
    <collision>
      <origin xyz="5.55112e-17 0 -0.0025" rpy="-3.14159 1.00961e-18 4.43734e-31"/>
      <geometry>
        <mesh filename="package://meshes\servo_wheel.stl"/>
      </geometry>
    </collision>
    <!-- Part servo_18 -->
    <visual>
      <origin xyz="-0.0175 -0.00140442 -0.0305" rpy="3.14159 5.54848e-16 -3.88578e-16"/>
      <geometry>
        <mesh filename="package://meshes\servo.stl"/>
      </geometry>
      <material name="servo_18_material">
        <color rgba="0.109804 0.109804 0.105882 1"/>
      </material>
    </visual>
    <collision>
      <origin xyz="-0.0175 -0.00140442 -0.0305" rpy="3.14159 5.54848e-16 -3.88578e-16"/>
      <geometry>
        <mesh filename="package://meshes\servo.stl"/>
      </geometry>
    </collision>
    <!-- Part fixed_bracket_18 -->
    <visual>
      <origin xyz="-0.0575 5.37764e-17 -0.0305" rpy="1.5708 1.5708 0"/>
      <geometry>
        <mesh filename="package://meshes\fixed_bracket.stl"/>
      </geometry>
      <material name="fixed_bracket_18_material">
        <color rgba="0.647059 0.647059 0.647059 1"/>
      </material>
    </visual>
    <collision>
      <origin xyz="-0.0575 5.37764e-17 -0.0305" rpy="1.5708 1.5708 0"/>
      <geometry>
        <mesh filename="package://meshes\fixed_bracket.stl"/>
      </geometry>
    </collision>
    <!-- Part servo_wheel_36 -->
    <visual>
      <origin xyz="5.55112e-17 2.77556e-17 -0.0585" rpy="-3.14159 1.82205e-15 -3.88578e-16"/>
      <geometry>
        <mesh filename="package://meshes\servo_wheel.stl"/>
      </geometry>
      <material name="servo_wheel_36_material">
        <color rgba="0.647059 0.647059 0.647059 1"/>
      </material>
    </visual>
    <collision>
      <origin xyz="5.55112e-17 2.77556e-17 -0.0585" rpy="-3.14159 1.82205e-15 -3.88578e-16"/>
      <geometry>
        <mesh filename="package://meshes\servo_wheel.stl"/>
      </geometry>
    </collision>
  </link>
  <!-- Joint from ties_assembly_6 to foot_assembly_6 -->
  <joint name="foot_6" type="revolute">
    <origin xyz="0.1918 0.000117091 -0.00186036" rpy="2.27858e-15 -2.06207e-16 -3.14159"/>
    <parent link="ties_assembly_6"/>
    <child link="foot_assembly_6"/>
    <axis xyz="0 0 1"/>
    <limit effort="10" velocity="10" lower="-2.0944" upper="2.0944"/>
  </joint>
  <!-- Joint from hip_assembly_6 to ties_assembly_6 -->
  <joint name="ties_6" type="revolute">
    <origin xyz="0.0925 -0.0311167 -0.0305" rpy="1.5708 3.18423e-14 5.08286e-14"/>
    <parent link="hip_assembly_6"/>
    <child link="ties_assembly_6"/>
    <axis xyz="0 0 1"/>
    <limit effort="10" velocity="10" lower="-1.74533" upper="1.74533"/>
  </joint>
  <!-- Joint from base_link to hip_assembly_6 -->
  <joint name="hip_6" type="revolute">
    <origin xyz="0.0183478 0.13514 0.0166947" rpy="-3.01521e-14 7.87813e-15 1.48353"/>
    <parent link="base_link"/>
    <child link="hip_assembly_6"/>
    <axis xyz="0 0 1"/>
    <limit effort="10" velocity="10" lower="-1.5708" upper="1.5708"/>
  </joint>
</robot>
